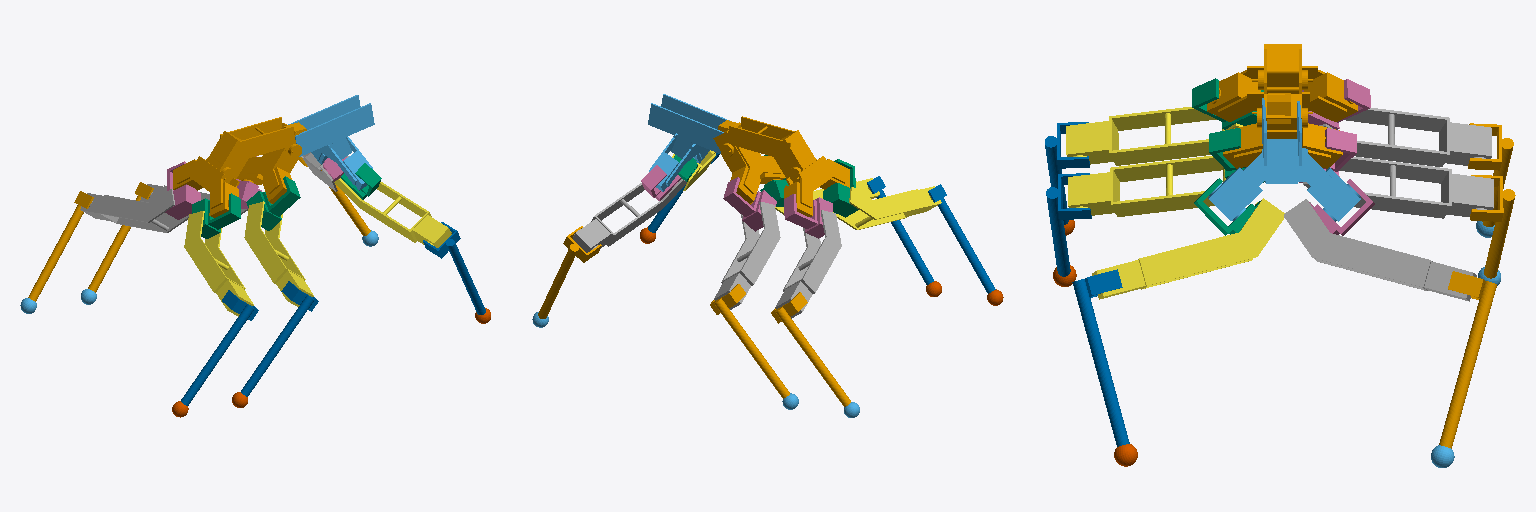
--- Facts derived from the render (not from the file) ---
The picture shows the robot from 3 angles, left to right: view 1: azimuth 30°, elevation 25°; view 2: azimuth 150°, elevation 25°; view 3: azimuth 270°, elevation 25°; orthographic projection.
Robot: dbAlpha_base — 26 links, 25 joints (19 revolute, 6 fixed); root link base_link; default pose: every joint at zero.
Visible links, largest first — view 1: base_link, Thorax, LegAbdomenRearRightLink2, LegAbdomenMidRightLink2, LegAbdomenRearLeftLink2, LegThoraxRightLink2, LegAbdomenRearRightLink3, LegAbdomenMidRightLink3, LegAbdomenRearLeftLink3, LegThoraxRightLink3, LegAbdomenMidRightLink1, LegAbdomenRearRightLink1 (+4 smaller); view 2: base_link, Thorax, dbAlphaL2link2, LegAbdomenRearLeftLink2, LegAbdomenRearRightLink2, LegThoraxLeftLink2, dbAlphaL2link3, LegAbdomenRearLeftLink3, LegAbdomenRearRightLink3, LegThoraxLeftLink3, dbAlphaL2link1, LegAbdomenRearLeftLink1 (+3 smaller); view 3: base_link, Thorax, LegThoraxLeftLink2, LegThoraxRightLink2, LegAbdomenMidRightLink2, LegAbdomenRearRightLink2, dbAlphaL2link2, LegAbdomenRearLeftLink2, LegThoraxLeftLink3, LegThoraxRightLink3, LegAbdomenMidRightLink3, dbAlphaL2link3 (+8 smaller).
Boxes of the visible links, left/top/right/bottom form: base_link: left=173, top=117, right=306, bottom=217; Thorax: left=288, top=95, right=374, bottom=190; LegAbdomenRearRightLink2: left=184, top=211, right=253, bottom=316; LegAbdomenMidRightLink2: left=244, top=201, right=313, bottom=306; LegAbdomenRearLeftLink2: left=80, top=189, right=188, bottom=232; LegThoraxRightLink2: left=334, top=178, right=451, bottom=247; LegAbdomenRearRightLink3: left=181, top=290, right=258, bottom=405; LegAbdomenMidRightLink3: left=241, top=281, right=318, bottom=396; LegAbdomenRearLeftLink3: left=28, top=191, right=93, bottom=301; LegThoraxRightLink3: left=423, top=222, right=485, bottom=314; LegAbdomenMidRightLink1: left=246, top=176, right=300, bottom=230; LegAbdomenRearRightLink1: left=192, top=193, right=240, bottom=238; base_link: left=713, top=116, right=849, bottom=216; Thorax: left=648, top=94, right=729, bottom=191; dbAlphaL2link2: left=714, top=202, right=780, bottom=309; LegAbdomenRearLeftLink2: left=775, top=210, right=841, bottom=318; LegAbdomenRearRightLink2: left=833, top=186, right=941, bottom=229; LegThoraxLeftLink2: left=573, top=179, right=686, bottom=252; dbAlphaL2link3: left=710, top=284, right=789, bottom=398; LegAbdomenRearLeftLink3: left=771, top=292, right=850, bottom=406; LegAbdomenRearRightLink3: left=928, top=184, right=995, bottom=293; LegThoraxLeftLink3: left=538, top=226, right=601, bottom=318; dbAlphaL2link1: left=723, top=177, right=776, bottom=231; LegAbdomenRearLeftLink1: left=784, top=194, right=832, bottom=238; base_link: left=1207, top=44, right=1357, bottom=168; Thorax: left=1208, top=98, right=1360, bottom=221; LegThoraxLeftLink2: left=1284, top=199, right=1476, bottom=301; LegThoraxRightLink2: left=1092, top=198, right=1284, bottom=299; LegAbdomenMidRightLink2: left=1068, top=156, right=1225, bottom=216; LegAbdomenRearRightLink2: left=1066, top=107, right=1242, bottom=165; dbAlphaL2link2: left=1303, top=157, right=1493, bottom=218; LegAbdomenRearLeftLink2: left=1319, top=108, right=1491, bottom=166; LegThoraxLeftLink3: left=1439, top=271, right=1496, bottom=448; LegThoraxRightLink3: left=1072, top=269, right=1129, bottom=446; LegAbdomenMidRightLink3: left=1046, top=173, right=1091, bottom=276; dbAlphaL2link3: left=1470, top=175, right=1515, bottom=278.
Bounding box of the posed robot: 0.601 × 0.4954 × 0.3473 m (x, y, z).
Geometry: primitives only (box / cylinder / sphere), no mesh files.

robot.urdf — dbAlpha_base:
<?xml version="1.0"?>
<robot name="dbAlpha_base">
    <link name="base_link">
        <inertial>
            <origin rpy="-3.141593 3.141593 -3.141593" xyz="-0.006292 -0.000036 0.350842" />
            <inertia izz="0.0032060973793816" iyz="3.4328627291976e-06" ixx="0.0013298139614171" iyy="0.002971610314483" ixz="-0.00041864907431027" ixy="3.2505454879773e-05" />
            <mass value="0.79273247718811" />
        </inertial>
        <collision name="dbAlpha_base">
            <origin xyz="0.082704 -0.003433 0.390925" rpy="-3.128772 3.179409 3.124468" />
            <geometry>
                <box size="0.025000 0.025000 0.025000" />
            </geometry>        
        </collision>
        <visual>
            <origin xyz="0.082704 -0.003433 0.390925" rpy="-3.128772 3.179409 3.124468" />
            <geometry>
                <box size="0.025000 0.025000 0.025000" />
            </geometry>
        </visual>
        <collision name="dbAlpha_base">
            <origin xyz="0.032815 0.045311 0.321212" rpy="2.436458 3.397691 1.956746" />
            <geometry>
                <cylinder length="0.03990364074707" radius="0.0097124055027962" />
            </geometry>          
        </collision>
        <visual>
            <origin xyz="0.032815 0.045311 0.321212" rpy="2.436458 3.397691 1.956746" />
            <geometry>
                <cylinder length="0.03990364074707" radius="0.0097124055027962" />
            </geometry>          
        </visual>
        <collision name="dbAlpha_base">
            <origin xyz="0.064052 0.000006 0.364870" rpy="0.000632 3.762836 -0.000845" />
            <geometry>
                <box size="0.028509 0.034007 0.046500" />
            </geometry>         
        </collision>
        <visual>
            <origin xyz="0.064052 0.000006 0.364870" rpy="0.000632 3.762836 -0.000845" />
            <geometry>
                <box size="0.028509 0.034007 0.046500" />
            </geometry>        
        </visual>
        <collision name="dbAlpha_base">
            <origin xyz="0.036285 0.034788 0.326053" rpy="2.007809 3.762685 -0.000615" />
            <geometry>
                <box size="0.028510 0.034011 0.046512" />
            </geometry>
        </collision>
        <visual>
            <origin xyz="0.036285 0.034788 0.326053" rpy="2.007809 3.762685 -0.000615" />
            <geometry>
                <box size="0.028510 0.034011 0.046512" />
            </geometry>     
        </visual>
        <collision name="dbAlpha_base">
            <origin xyz="0.036267 -0.034789 0.326078" rpy="-2.006940 3.762685 -0.000403" />
            <geometry>
                <box size="0.028510 0.034011 0.046510" />
            </geometry>
        </collision>
        <visual>
            <origin xyz="0.036267 -0.034789 0.326078" rpy="-2.006940 3.762685 -0.000403" />
            <geometry>
                <box size="0.028510 0.034011 0.046510" />
            </geometry>    
        </visual>
        <collision name="dbAlpha_base">
            <origin xyz="-0.053841 0.043629 0.327704" rpy="2.356639 3.762685 -0.000616" />
            <geometry>
                <box size="0.003008 0.024930 0.042689" />
            </geometry>
        </collision>
        <visual>
            <origin xyz="-0.053841 0.043629 0.327704" rpy="2.356639 3.762685 -0.000616" />
            <geometry>
                <box size="0.003008 0.024930 0.042689" />
            </geometry>  
        </visual>
        <collision name="dbAlpha_base">
            <origin xyz="0.050993 -0.027731 0.319586" rpy="-2.006940 3.762685 -0.000403" />
            <geometry>
                <box size="0.003007 0.022007 0.041591" />
            </geometry>
        </collision>
        <visual>
            <origin xyz="0.050993 -0.027731 0.319586" rpy="-2.006940 3.762685 -0.000403" />
            <geometry>
                <box size="0.003007 0.022007 0.041591" />
            </geometry>
        </visual>
        <collision name="dbAlpha_base">
            <origin xyz="0.025482 -0.027801 0.338065" rpy="1.134698 3.762685 -0.000616" />
            <geometry>
                <box size="0.003004 0.022401 0.041592" />
            </geometry>
        </collision>
        <visual>
            <origin xyz="0.025482 -0.027801 0.338065" rpy="1.134698 3.762685 -0.000616" />
            <geometry>
                <box size="0.003004 0.022401 0.041592" />
            </geometry>
        </visual>
        <collision name="dbAlpha_base">
            <origin xyz="0.051007 0.027718 0.319567" rpy="2.007811 3.762684 -0.000616" />
            <geometry>
                <box size="0.003007 0.022007 0.041593" />
            </geometry>
        </collision>
        <visual>
            <origin xyz="0.051007 0.027718 0.319567" rpy="2.007811 3.762684 -0.000616" />
            <geometry>
                <box size="0.003007 0.022007 0.041593" />
            </geometry>
        </visual>
        <collision name="dbAlpha_base">
            <origin xyz="0.025393 0.027731 0.337901" rpy="-1.133829 3.762685 -0.000403" />
            <geometry>
                <box size="0.003005 0.022010 0.041591" />
            </geometry>
        </collision>
        <visual>
            <origin xyz="0.025393 0.027731 0.337901" rpy="-1.133829 3.762685 -0.000403" />
            <geometry>
                <box size="0.003005 0.022010 0.041591" />
            </geometry>
        </visual>
        <collision name="dbAlpha_base">
            <origin xyz="0.066935 0.000916 0.341836" rpy="-3.141431 3.762686 -0.000403" />
            <geometry>
                <box size="0.003010 0.037973 0.057110" />
            </geometry>
        </collision>
        <visual>
            <origin xyz="0.066935 0.000916 0.341836" rpy="-3.141431 3.762686 -0.000403" />
            <geometry>
                <box size="0.003010 0.037973 0.057110" />
            </geometry>
        </visual>
        <collision name="dbAlpha_base">
            <origin xyz="0.041320 -0.000907 0.360171" rpy="-3.140888 3.762687 -0.000616" />
            <geometry>
                <box size="0.003010 0.037974 0.057110" />
            </geometry>
        </collision>
        <visual>
            <origin xyz="0.041320 -0.000907 0.360171" rpy="-3.140888 3.762687 -0.000616" />
            <geometry>
                <box size="0.003010 0.037974 0.057110" />
            </geometry>
        </visual>
        <collision name="dbAlpha_base">
            <origin xyz="0.068179 0.000007 0.370635" rpy="0.000392 3.762840 -0.000437" />
            <geometry>
                <box size="0.028502 0.040002 0.060680" />
            </geometry>
        </collision>
        <visual>
            <origin xyz="0.068179 0.000007 0.370635" rpy="0.000392 3.762840 -0.000437" />
            <geometry>
                <box size="0.028502 0.040002 0.060680" />
            </geometry>
        </visual>
        <collision name="dbAlpha_base">
            <origin xyz="-0.039778 0.000036 0.367715" rpy="-3.141051 3.779570 -0.000270" />
            <geometry>
                <box size="0.036349 0.040023 0.088862" />
            </geometry>
        </collision>
        <visual>
            <origin xyz="-0.039778 0.000036 0.367715" rpy="-3.141051 3.779570 -0.000270" />
            <geometry>
                <box size="0.036349 0.040023 0.088862" />
            </geometry>
        </visual>
        <collision name="dbAlpha_base">
            <origin xyz="0.024593 -0.018472 0.396442" rpy="1.612754 3.141944 1.570536" />
            <geometry>
                <box size="0.003001 0.031555 0.093054" />
            </geometry>
        </collision>
        <visual>
            <origin xyz="0.024593 -0.018472 0.396442" rpy="1.612754 3.141944 1.570536" />
            <geometry>
                <box size="0.003001 0.031555 0.093054" />
            </geometry>
        </visual>
        <collision name="dbAlpha_base">
            <origin xyz="-0.055113 0.000032 0.353015" rpy="-3.141062 3.762855 -0.000674" />
            <geometry>
                <box size="0.028504 0.034004 0.046500" />
            </geometry>
        </collision>
        <visual>
            <origin xyz="-0.055113 0.000032 0.353015" rpy="-3.141062 3.762855 -0.000674" />
            <geometry>
                <box size="0.028504 0.034004 0.046500" />
            </geometry>
        </visual>
        <collision name="dbAlpha_base">
            <origin xyz="0.017492 0.018530 0.396712" rpy="1.528927 3.141244 -1.571050" />
            <geometry>
                <box size="0.003000 0.030393 0.107240" />
            </geometry>
        </collision>
        <visual>
            <origin xyz="0.017492 0.018530 0.396712" rpy="1.528927 3.141244 -1.571050" />
            <geometry>
                <box size="0.003000 0.030393 0.107240" />
            </geometry>
        </visual>
        <collision name="dbAlpha_base">
            <origin xyz="-0.069889 0.051276 0.332337" rpy="-0.784986 3.762686 -0.000402" />
            <geometry>
                <box size="0.028508 0.034007 0.046503" />
            </geometry>
        </collision>
        <visual>
            <origin xyz="-0.069889 0.051276 0.332337" rpy="-0.784986 3.762686 -0.000402" />
            <geometry>
                <box size="0.028508 0.034007 0.046503" />
            </geometry>
        </visual>
        <collision name="dbAlpha_base">
            <origin xyz="-0.079127 0.044205 0.346495" rpy="2.356509 3.762685 -0.000402" />
            <geometry>
                <box size="0.003006 0.023341 0.042689" />
            </geometry>
        </collision>
        <visual>
            <origin xyz="-0.079127 0.044205 0.346495" rpy="2.356509 3.762685 -0.000402" />
            <geometry>
                <box size="0.003006 0.023341 0.042689" />
            </geometry>
        </visual>
        <collision name="dbAlpha_base">
            <origin xyz="-0.069915 -0.051219 0.332374" rpy="-2.355738 3.762685 -0.000616" />
            <geometry>
                <box size="0.028508 0.034008 0.046503" />
            </geometry>
        </collision>
        <visual>
            <origin xyz="-0.069915 -0.051219 0.332374" rpy="-2.355738 3.762685 -0.000616" />
            <geometry>
                <box size="0.028508 0.034008 0.046503" />
            </geometry>
        </visual>
        <collision name="dbAlpha_base">
            <origin xyz="-0.079150 -0.044131 0.346526" rpy="0.785879 3.762685 -0.000616" />
            <geometry>
                <box size="0.003005 0.023341 0.042689" />
            </geometry>
        </collision>
        <visual>
            <origin xyz="-0.079150 -0.044131 0.346526" rpy="0.785879 3.762685 -0.000616" />
            <geometry>
                <box size="0.003005 0.023341 0.042689" />
            </geometry>
        </visual>
        <collision name="dbAlpha_base">
            <origin xyz="-0.071235 0.000095 0.357553" rpy="-1.576121 3.762685 -0.000616" />
            <geometry>
                <box size="0.003010 0.034949 0.074651" />
            </geometry>
        </collision>
        <visual>
            <origin xyz="-0.071235 0.000095 0.357553" rpy="-1.576121 3.762685 -0.000616" />
            <geometry>
                <box size="0.003010 0.034949 0.074651" />
            </geometry>
        </visual>
        <collision name="dbAlpha_base">
            <origin xyz="-0.045582 -0.004067 0.339276" rpy="1.571164 3.762692 -0.000388" />
            <geometry>
                <box size="0.003008 0.034751 0.066469" />
            </geometry>
        </collision>
        <visual>
            <origin xyz="-0.045582 -0.004067 0.339276" rpy="1.571164 3.762692 -0.000388" />
            <geometry>
                <box size="0.003008 0.034751 0.066469" />
            </geometry>
        </visual>
        <collision name="dbAlpha_base">
            <origin xyz="-0.053535 -0.044153 0.328192" rpy="-2.355284 3.762688 -0.000404" />
            <geometry>
                <box size="0.003008 0.023348 0.042686" />
            </geometry>
        </collision>
        <visual>
            <origin xyz="-0.053535 -0.044153 0.328192" rpy="-2.355284 3.762688 -0.000404" />
            <geometry>
                <box size="0.003008 0.023348 0.042686" />
            </geometry>
        </visual>
        <collision name="dbAlpha_base">
            <origin xyz="0.025649 0.000031 0.406751" rpy="-1.571818 1.926986 3.140377" />
            <geometry>
                <cylinder length="0.034001111984253" radius="0.0020486116409302" />
            </geometry>
        </collision>
        <visual>
            <origin xyz="0.025649 0.000031 0.406751" rpy="-1.571818 1.926986 3.140377" />
            <geometry>
                <cylinder length="0.034001111984253" radius="0.0020486116409302" />
            </geometry>
        </visual>
        <collision name="dbAlpha_base">
            <origin xyz="0.026488 0.000024 0.386769" rpy="-1.572104 4.440180 -3.140590" />
            <geometry>
                <cylinder length="0.034000873565674" radius="0.0020487755537033" />
            </geometry>
        </collision>
        <visual>
            <origin xyz="0.026488 0.000024 0.386769" rpy="-1.572104 4.440180 -3.140590" />
            <geometry>
                <cylinder length="0.034000873565674" radius="0.0020487755537033" />
            </geometry>
        </visual>
        <collision name="dbAlpha_base">
            <origin xyz="-0.075723 0.058169 0.324210" rpy="2.549536 3.947053 1.793942" />
            <geometry>
                <cylinder length="0.042402267456055" radius="0.0097112059593201" />
            </geometry>
        </collision>
        <visual>
            <origin xyz="-0.075723 0.058169 0.324210" rpy="2.549536 3.947053 1.793942" />
            <geometry>
                <cylinder length="0.042402267456055" radius="0.0097112059593201" />
            </geometry>
        </visual>
        <collision name="dbAlpha_base">
            <origin xyz="-0.023468 0.000036 0.384671" rpy="-1.571250 3.811981 -3.141565" />
            <geometry>
                <cylinder length="0.034000158309937" radius="0.0020487885922194" />
            </geometry>
        </collision>
        <visual>
            <origin xyz="-0.023468 0.000036 0.384671" rpy="-1.571250 3.811981 -3.141565" />
            <geometry>
                <cylinder length="0.034000158309937" radius="0.0020487885922194" />
            </geometry>
        </visual>
        <collision name="dbAlpha_base">
            <origin xyz="-0.075712 -0.058127 0.324206" rpy="0.954367 3.044734 -2.682950" />
            <geometry>
                <cylinder length="0.042402625083923" radius="0.0097114741802216" />
            </geometry>
        </collision>
        <visual>
            <origin xyz="-0.075712 -0.058127 0.324206" rpy="0.954367 3.044734 -2.682950" />
            <geometry>
                <cylinder length="0.042402625083923" radius="0.0097114741802216" />
            </geometry>
        </visual>
        <collision name="dbAlpha_base">
            <origin xyz="0.032108 -0.044761 0.320355" rpy="2.467905 3.480263 0.500674" />
            <geometry>
                <cylinder length="0.042401909828186" radius="0.0097118318080902" />
            </geometry>
        </collision>
        <visual>
            <origin xyz="0.032108 -0.044761 0.320355" rpy="2.467905 3.480263 0.500674" />
            <geometry>
                <cylinder length="0.042401909828186" radius="0.0097118318080902" />
            </geometry>
        </visual>
        <collision name="dbAlpha_base">
            <origin xyz="0.071036 -0.022742 0.374611" rpy="1.570431 3.357126 3.141414" />
            <geometry>
                <cylinder length="0.007500171661377" radius="0.01048712618649" />
            </geometry>
        </collision>
        <visual>
            <origin xyz="0.071036 -0.022742 0.374611" rpy="1.570431 3.357126 3.141414" />
            <geometry>
                <cylinder length="0.007500171661377" radius="0.01048712618649" />
            </geometry>
        </visual>
        <collision name="dbAlpha_base">
            <origin xyz="0.063233 -0.029240 0.376433" rpy="-1.571660 1.998854 3.140549" />
            <geometry>
                <cylinder length="0.0054996013641357" radius="0.0014872252941132" />
            </geometry>
        </collision>
        <visual>
            <origin xyz="0.063233 -0.029240 0.376433" rpy="-1.571660 1.998854 3.140549" />
            <geometry>
                <cylinder length="0.0054996013641357" radius="0.0014872252941132" />
            </geometry>
        </visual>
        <collision name="dbAlpha_base">
            <origin xyz="0.063248 0.029261 0.376412" rpy="-1.571184 3.569612 3.141499" />
            <geometry>
                <cylinder length="0.0055007934570312" radius="0.0014872066676617" />
            </geometry>
        </collision>
        <visual>
            <origin xyz="0.063248 0.029261 0.376412" rpy="-1.571184 3.569612 3.141499" />
            <geometry>
                <cylinder length="0.0055007934570312" radius="0.0014872066676617" />
            </geometry>
        </visual>
        <collision name="dbAlpha_base">
            <origin xyz="0.071045 0.022758 0.374614" rpy="-1.571535 3.357200 -3.140055" />
            <geometry>
                <cylinder length="0.0075352191925049" radius="0.010494554415345" />
            </geometry>
        </collision>
        <visual>
            <origin xyz="0.071045 0.022758 0.374614" rpy="-1.571535 3.357200 -3.140055" />
            <geometry>
                <cylinder length="0.0075352191925049" radius="0.010494554415345" />
            </geometry>
        </visual>
        <collision name="dbAlpha_base">
            <origin xyz="-0.048123 0.022784 0.362765" rpy="-1.570439 3.309800 -0.000317" />
            <geometry>
                <cylinder length="0.0075004100799561" radius="0.010499980300665" />
            </geometry>
        </collision>
        <visual>
            <origin xyz="-0.048123 0.022784 0.362765" rpy="-1.570439 3.309800 -0.000317" />
            <geometry>
                <cylinder length="0.0075004100799561" radius="0.010499980300665" />
            </geometry>
        </visual>
        <collision name="dbAlpha_base">
            <origin xyz="-0.055269 -0.029215 0.359160" rpy="-1.566211 4.635024 -0.004827" />
            <geometry>
                <cylinder length="0.0055000782012939" radius="0.0014871954917908" />
            </geometry>
        </collision>
        <visual>
            <origin xyz="-0.055269 -0.029215 0.359160" rpy="-1.566211 4.635024 -0.004827" />
            <geometry>
                <cylinder length="0.0055000782012939" radius="0.0014871954917908" />
            </geometry>
        </visual>
        <collision name="dbAlpha_base">
            <origin xyz="-0.048135 -0.022716 0.362782" rpy="1.571462 2.131499 0.000308" />
            <geometry>
                <cylinder length="0.0075006484985352" radius="0.010499926283956" />
            </geometry>
        </collision>
        <visual>
            <origin xyz="-0.048135 -0.022716 0.362782" rpy="1.571462 2.131499 0.000308" />
            <geometry>
                <cylinder length="0.0075006484985352" radius="0.010499926283956" />
            </geometry>
        </visual>
        <collision name="dbAlpha_base">
            <origin xyz="-0.055254 0.029285 0.359139" rpy="-1.570342 3.849252 -0.000567" />
            <geometry>
                <cylinder length="0.005500316619873" radius="0.0014872625470161" />
            </geometry>
        </collision> 
        <visual>
            <origin xyz="-0.055254 0.029285 0.359139" rpy="-1.570342 3.849252 -0.000567" />
            <geometry>
                <cylinder length="0.005500316619873" radius="0.0014872625470161" />
            </geometry>
        </visual>
    </link>
    <!-- End Abdomen-->
    <joint name="dbAlphaTA" type="revolute">
        <axis xyz="0 0 1" />
        <limit effort="4.0999999046326" upper="0.34906587004662" lower="-0.43633231520653" velocity="1.0471975803375" />
        <parent link="base_link" />
        <child link="Thorax" />
        <origin xyz="0.084022 -0.001600 0.387782" rpy="1.583457 3.283007 0.015086" />
    </joint>
    <link name="Thorax">
        <inertial>
            <origin rpy="1.583333 3.158462 0.141214" xyz="-0.079260 0.029651 -0.001808" />
            <inertia izz="0.00081537963885578" iyz="1.8068792287944e-05" ixx="0.00093384334259596" iyy="0.0004049212992919" ixz="7.8571802847512e-05" ixy="5.102323436859e-06" />
            <mass value="0.39300000667572" />
        </inertial>
        <collision name="Thorax">
            <origin xyz="-0.070678 0.016180 0.000057" rpy="1.570799 3.145506 0.546856" />
            <geometry>
                <box size="0.028633 0.034111 0.046500" />
            </geometry>
        </collision>
        <visual>
            <origin xyz="-0.070678 0.016180 0.000057" rpy="1.570799 3.145506 0.546856" />
            <geometry>
                <box size="0.028633 0.034111 0.046500" />
            </geometry>
        </visual>
        <collision name="Thorax">
            <origin xyz="-0.094104 0.054670 0.055831" rpy="-3.006078 2.365219 2.309748" />
            <geometry>
                <cylinder length="0.042402744293213" radius="0.0097193717956543" />
            </geometry>
        </collision>
        <visual>
            <origin xyz="-0.094104 0.054670 0.055831" rpy="-3.006078 2.365219 2.309748" />
            <geometry>
                <cylinder length="0.042402744293213" radius="0.0097193717956543" />
            </geometry>
        </visual>
        <collision name="Thorax">
            <origin xyz="-0.088905 0.046118 0.048932" rpy="0.785270 3.141375 0.547097" />
            <geometry>
                <box size="0.028516 0.034007 0.046514" />
            </geometry>
        </collision>
        <visual>
            <origin xyz="-0.088905 0.046118 0.048932" rpy="0.785270 3.141375 0.547097" />
            <geometry>
                <box size="0.028516 0.034007 0.046514" />
            </geometry>
        </visual>
        <collision name="Thorax">
            <origin xyz="-0.064426 0.005886 0.000057" rpy="-3.141566 3.141585 1.844424" />
            <geometry>
                <cylinder length="0.038001537322998" radius="0.009715810418129" />
            </geometry>
        </collision>
        <visual>
            <origin xyz="-0.064426 0.005886 0.000057" rpy="-3.141566 3.141585 1.844424" />
            <geometry>
                <cylinder length="0.038001537322998" radius="0.009715810418129" />
            </geometry>
        </visual>
        <collision name="Thorax">
            <origin xyz="-0.094142 0.054658 -0.061727" rpy="-2.510504 3.645483 1.130377" />
            <geometry>
                <cylinder length="0.042403340339661" radius="0.0097194761037827" />
            </geometry>
        </collision>
        <visual>
            <origin xyz="-0.094142 0.054658 -0.061727" rpy="-2.510504 3.645483 1.130377" />
            <geometry>
                <cylinder length="0.042403340339661" radius="0.0097194761037827" />
            </geometry>
        </visual>
        <collision name="Thorax">
            <origin xyz="-0.056791 -0.011001 -0.018442" rpy="1.933161 1.570807 2.240606" />
            <geometry>
                <box size="0.003001 0.036913 0.136036" />
            </geometry>
        </collision>
        <visual>
            <origin xyz="-0.056791 -0.011001 -0.018442" rpy="1.933161 1.570807 2.240606" />
            <geometry>
                <box size="0.003001 0.036913 0.136036" />
            </geometry>
        </visual>
        <collision name="Thorax">
            <origin xyz="-0.095438 0.026562 0.035626" rpy="0.785269 3.141591 0.546860" />
            <geometry>
                <box size="0.003001 0.022008 0.063639" />
            </geometry>
        </collision>
        <visual>
            <origin xyz="-0.095438 0.026562 0.035626" rpy="0.785269 3.141591 0.546860" />
            <geometry>
                <box size="0.003001 0.022008 0.063639" />
            </geometry>
        </visual>
        <collision name="Thorax">
            <origin xyz="-0.068532 0.042942 0.035626" rpy="0.785269 3.141610 0.546877" />
            <geometry>
                <box size="0.003001 0.022008 0.063639" />
            </geometry>
        </collision>
        <visual>
            <origin xyz="-0.068532 0.042942 0.035626" rpy="0.785269 3.141610 0.546877" />
            <geometry>
                <box size="0.003001 0.022008 0.063639" />
            </geometry>
        </visual>
        <collision name="Thorax">
            <origin xyz="-0.059305 0.027786 -0.002943" rpy="-3.141587 3.141591 0.546857" />
            <geometry>
                <box size="0.003000 0.034000 0.044538" />
            </geometry>
        </collision>
        <visual>
            <origin xyz="-0.059305 0.027786 -0.002943" rpy="-3.141587 3.141591 0.546857" />
            <geometry>
                <box size="0.003000 0.034000 0.044538" />
            </geometry>
        </visual>
        <collision name="Thorax">
            <origin xyz="-0.086211 0.011406 -0.002943" rpy="-3.141587 3.141591 0.546857" />
            <geometry>
                <box size="0.003001 0.034000 0.047692" />
            </geometry>
        </collision>
        <visual>
            <origin xyz="-0.086211 0.011406 -0.002943" rpy="-3.141587 3.141591 0.546857" />
            <geometry>
                <box size="0.003001 0.034000 0.047692" />
            </geometry>
        </visual>
        <collision name="Thorax">
            <origin xyz="-0.068532 0.042942 -0.041511" rpy="-0.785260 3.141594 0.546858" />
            <geometry>
                <box size="0.003000 0.022008 0.063639" />
            </geometry>
        </collision>
        <visual>
            <origin xyz="-0.068532 0.042942 -0.041511" rpy="-0.785260 3.141594 0.546858" />
            <geometry>
                <box size="0.003000 0.022008 0.063639" />
            </geometry>
        </visual>
        <collision name="Thorax">
            <origin xyz="-0.095438 0.026561 -0.041511" rpy="-0.785260 3.141595 0.546858" />
            <geometry>
                <box size="0.003000 0.022008 0.063639" />
            </geometry>
        </collision>
        <visual>
            <origin xyz="-0.095438 0.026561 -0.041511" rpy="-0.785260 3.141595 0.546858" />
            <geometry>
                <box size="0.003000 0.022008 0.063639" />
            </geometry>
        </visual>
        <collision name="Thorax">
            <origin xyz="-0.056766 -0.011072 0.018558" rpy="0.859653 4.712381 -0.552404" />
            <geometry>
                <box size="0.003001 0.036762 0.136036" />
            </geometry>
        </collision>
        <visual>
            <origin xyz="-0.056766 -0.011072 0.018558" rpy="0.859653 4.712381 -0.552404" />
            <geometry>
                <box size="0.003001 0.036762 0.136036" />
            </geometry>
        </visual>
        <collision name="Thorax">
            <origin xyz="-0.088905 0.046118 -0.054818" rpy="-0.785260 3.141811 0.547095" />
            <geometry>
                <box size="0.028515 0.034006 0.046514" />
            </geometry>
        </collision> 
        <visual>
            <origin xyz="-0.088905 0.046118 -0.054818" rpy="-0.785260 3.141811 0.547095" />
            <geometry>
                <box size="0.028515 0.034006 0.046514" />
            </geometry>
        </visual>
    </link>
    <!-- End Thorax-->

    <joint name="dbAlphaBC3" type="revolute">
        <axis xyz="0 0 1" />
        <limit effort="4.0999999046326" upper="0.34906587004662" lower="-0.69813171029091" velocity="1.0471975803375" />
        <parent link="Thorax" />
        <child link="LegThoraxRightLink1" />
        <origin xyz="-0.093699 0.053942 0.056721" rpy="2.878107 2.392392 1.740291" />
    </joint>
    <link name="LegThoraxRightLink1">
        <inertial>
            <origin rpy="0.000224 3.141727 2.018782" xyz="0.004362 0.002122 0.003495" />
            <inertia izz="2.7032945074644e-05" iyz="3.8403333722007e-06" ixx="5.2499231550432e-05" iyy="4.4062315572048e-05" ixz="-5.4987206415571e-10" ixy="3.052183779589e-10" />
            <mass value="0.10400000214577" />
        </inertial>
        <collision name="Leg_Thorax_Right_Link1">
            <origin xyz="-0.006349 -0.003017 0.022479" rpy="0.623842 4.712116 -0.176375" />
            <geometry>
                <box size="0.005001 0.022007 0.034966" />
            </geometry>
        </collision>
        <visual>
            <origin xyz="-0.006349 -0.003017 0.022479" rpy="0.623842 4.712116 -0.176375" />
            <geometry>
                <box size="0.005001 0.022007 0.034966" />
            </geometry>
        </visual>
        <collision name="Leg_Thorax_Right_Link1">
            <origin xyz="0.003600 0.001752 -0.037269" rpy="0.652579 4.712126 -0.204610" />
            <geometry>
                <box size="0.028501 0.034012 0.046509" />
            </geometry>
        </collision>
        <visual>
            <origin xyz="0.003600 0.001752 -0.037269" rpy="0.652579 4.712126 -0.204610" />
            <geometry>
                <box size="0.028501 0.034012 0.046509" />
            </geometry>
        </visual>
        <collision name="Leg_Thorax_Right_Link1">
            <origin xyz="0.014414 0.006945 -0.037269" rpy="-1.569697 4.643776 -2.694967" />
            <geometry>
                <cylinder length="0.038004726171494" radius="0.0097468197345734" />
            </geometry>
        </collision>
        <visual>
            <origin xyz="0.014414 0.006945 -0.037269" rpy="-1.569697 4.643776 -2.694967" />
            <geometry>
                <cylinder length="0.038004726171494" radius="0.0097468197345734" />
            </geometry>
        </visual>
        <collision name="Leg_Thorax_Right_Link1">
            <origin xyz="-0.003839 -0.001819 -0.020521" rpy="0.658512 4.712115 -0.211045" />
            <geometry>
                <box size="0.005001 0.022010 0.040499" />
            </geometry>
        </collision>
        <visual>
            <origin xyz="-0.003839 -0.001819 -0.020521" rpy="0.658512 4.712115 -0.211045" />
            <geometry>
                <box size="0.005001 0.022010 0.040499" />
            </geometry>
        </visual>
        <collision name="Leg_Thorax_Right_Link1">
            <origin xyz="-0.019847 -0.009502 0.000978" rpy="-3.141498 3.141808 -2.693865" />
            <geometry>
                <box size="0.005000 0.022010 0.038000" />
            </geometry>
        </collision>
        <visual>
            <origin xyz="-0.019847 -0.009502 0.000978" rpy="-3.141498 3.141808 -2.693865" />
            <geometry>
                <box size="0.005000 0.022010 0.038000" />
            </geometry>
        </visual>
    </link>


    <joint name="dbAlphaCF3" type="revolute">
        <axis xyz="0 0 1" />
        <limit effort="4.0999999046326" upper="0.52359873056412" lower="-0.26179945468903" velocity="1.0471975803375" />
        <parent link="LegThoraxRightLink1" />
        <child link="LegThoraxRightLink2" />
        <origin xyz="0.014475 0.006931 -0.037300" rpy="1.570718 2.861140 0.447701" />
    </joint>
    <link name="LegThoraxRightLink2">
        <inertial>
            <origin rpy="1.506905 4.701962 -2.165313" xyz="0.106023 -0.076525 -0.000165" />
            <inertia izz="5.760234077472e-05" iyz="-5.2814768473165e-05" ixx="0.00063820550278356" iyy="0.00065748805962023" ixz="-8.7301147729515e-07" ixy="1.4787884216665e-07" />
            <mass value="0.18000000715256" />
        </inertial>
        <collision name="Leg_Thorax_Right_Link2">
            <origin xyz="0.067126 -0.046767 -0.000165" rpy="-3.141577 3.142587 0.710300" />
            <geometry>
                <cylinder length="0.038001090288162" radius="0.0032186880707741" />
            </geometry>
        </collision>
        <visual>
            <origin xyz="0.067126 -0.046767 -0.000165" rpy="-3.141577 3.142587 0.710300" />
            <geometry>
                <cylinder length="0.038001090288162" radius="0.0032186880707741" />
            </geometry>
        </visual>
        <collision name="Leg_Thorax_Right_Link2">
            <origin xyz="0.014213 0.000627 0.020329" rpy="-1.038855 4.711420 -2.208036" />
            <geometry>
                <box size="0.003000 0.030394 0.054750" />
            </geometry>
        </collision>
        <visual>
            <origin xyz="0.014213 0.000627 0.020329" rpy="-1.038855 4.711420 -2.208036" />
            <geometry>
                <box size="0.003000 0.030394 0.054750" />
            </geometry>
        </visual>
        <collision name="Leg_Thorax_Right_Link2">
            <origin xyz="0.133136 -0.102288 -0.000160" rpy="-1.570796 3.142433 0.767021" />
            <geometry>
                <box size="0.028507 0.034011 0.046508" />
            </geometry>
        </collision>
        <visual>
            <origin xyz="0.133136 -0.102288 -0.000160" rpy="-1.570796 3.142433 0.767021" />
            <geometry>
                <box size="0.028507 0.034011 0.046508" />
            </geometry>
        </visual>
        <collision name="Leg_Thorax_Right_Link2">
            <origin xyz="0.014189 0.000594 -0.020672" rpy="-1.032949 4.711417 -2.213943" />
            <geometry>
                <box size="0.003000 0.030394 0.054750" />
            </geometry>
        </collision>
        <visual>
            <origin xyz="0.014189 0.000594 -0.020672" rpy="-1.032949 4.711417 -2.213943" />
            <geometry>
                <box size="0.003000 0.030394 0.054750" />
            </geometry>
        </visual>
        <collision name="Leg_Thorax_Right_Link2">
            <origin xyz="0.074599 -0.041580 -0.020674" rpy="1.404636 4.711413 -2.208500" />
            <geometry>
                <box size="0.003000 0.030003 0.122174" />
            </geometry>
        </collision>
        <visual>
            <origin xyz="0.074599 -0.041580 -0.020674" rpy="1.404636 4.711413 -2.208500" />
            <geometry>
                <box size="0.003000 0.030003 0.122174" />
            </geometry>
        </visual>
        <collision name="Leg_Thorax_Right_Link2">
            <origin xyz="0.074623 -0.041547 0.020326" rpy="1.404420 4.711414 -2.208284" />
            <geometry>
                <box size="0.003000 0.030003 0.122174" />
            </geometry>
        </collision>
        <visual>
            <origin xyz="0.074623 -0.041547 0.020326" rpy="1.404420 4.711414 -2.208284" />
            <geometry>
                <box size="0.003000 0.030003 0.122174" />
            </geometry>
        </visual>
        <collision name="Leg_Thorax_Right_Link2">
            <origin xyz="0.116031 -0.084540 -0.000164" rpy="3.140554 3.141599 2.337616" />
            <geometry>
                <box size="0.002811 0.030003 0.044002" />
            </geometry>
        </collision>
        <visual>
            <origin xyz="0.116031 -0.084540 -0.000164" rpy="3.140554 3.141599 2.337616" />
            <geometry>
                <box size="0.002811 0.030003 0.044002" />
            </geometry>
        </visual>
        <collision name="Leg_Thorax_Right_Link2">
            <origin xyz="0.141496 -0.110961 -0.000158" rpy="0.000250 3.140591 -2.261246" />
            <geometry>
                <cylinder length="0.038006067276001" radius="0.0096724182367325" />
            </geometry>
        </collision>
        <visual>
            <origin xyz="0.141496 -0.110961 -0.000158" rpy="0.000250 3.140591 -2.261246" />
            <geometry>
                <cylinder length="0.038006067276001" radius="0.0096724182367325" />
            </geometry>
        </visual>
    </link>

    <!-- TODO ###################################################################################################################################################-->
    <joint name="dbAlphaFT3" type="revolute">
        <axis xyz="0 0 1" />
        <limit effort="4.0999999046326" upper="1.0471975803375" lower="-1.0471975803375" velocity="1.0471975803375" />
        <parent link="LegThoraxRightLink2" />
        <child link="LegThoraxRightLink3" />
        <origin xyz="0.141892 -0.110781 -0.000037" rpy="0.000445 3.141419 -3.088028" />
    </joint>
    <link name="LegThoraxRightLink3">
        <inertial>
            <origin rpy="-3.118479 1.572086 2.451315" xyz="0.065815 -0.022592 0.000210" />
            <inertia izz="5.1129607481889e-06" iyz="-7.3669146842038e-06" ixx="0.00011587605253547" iyy="0.00011576391463284" ixz="7.3196280500875e-09" ixy="3.5678509000922e-10" />
            <mass value="0.034832794219255" />
        </inertial>
        <collision name="Leg_Thorax_Right_Link3">
            <origin xyz="0.004002 0.004981 -0.020378" rpy="1.590681 1.572087 2.448134" />
            <geometry>
                <box size="0.003000 0.020001 0.033500" />
            </geometry>
        </collision>
        <visual>
            <origin xyz="0.004002 0.004981 -0.020378" rpy="1.590681 1.572087 2.448134" />
            <geometry>
                <box size="0.003000 0.020001 0.033500" />
            </geometry>
        </visual>
        <collision name="Leg_Thorax_Right_Link3">
            <origin xyz="0.003961 0.005015 0.020622" rpy="1.592754 1.572068 2.450208" />
            <geometry>
                <box size="0.003000 0.020001 0.033500" />
            </geometry>
        </collision>
        <visual>
            <origin xyz="0.003961 0.005015 0.020622" rpy="1.592754 1.572068 2.450208" />
            <geometry>
                <box size="0.003000 0.020001 0.033500" />
            </geometry>
        </visual>
        <collision name="Leg_Thorax_Right_Link3">
            <origin xyz="0.080076 -0.030625 0.000232" rpy="1.572321 2.670293 0.858245" />
            <geometry>
                <cylinder length="0.18170228600502" radius="0.0069939307868481" />
            </geometry>
        </collision>
        <visual>
            <origin xyz="0.080076 -0.030625 0.000232" rpy="1.572321 2.670293 0.858245" />
            <geometry>
                <cylinder length="0.18170228600502" radius="0.0069939307868481" />
            </geometry>
        </visual>
        <collision name="Leg_Thorax_Right_Link3">
            <origin xyz="0.014054 0.016636 0.000122" rpy="0.001275 3.141563 0.857403" />
            <geometry>
                <box size="0.003284 0.020000 0.044000" />
            </geometry>
        </collision>
        <visual>
            <origin xyz="0.014054 0.016636 0.000122" rpy="0.001275 3.141563 0.857403" />
            <geometry>
                <box size="0.003284 0.020000 0.044000" />
            </geometry>
        </visual>
    </link>
    <joint name="Forcesensor3" type="fixed">
        <axis xyz="0 0 1" />
        <parent link="LegThoraxRightLink3" />
        <child link="Tips3" />
        <origin xyz="0.155579 -0.095546 0.000016" rpy="-3.118064 1.572087 2.451721" />
    </joint>
    <link name="Tips3">
        <inertial>
            <origin rpy="1.542054 1.570800 0.737640" xyz="-0.000346 -0.000337 -0.000224" />
            <inertia izz="5.1028341083554e-07" iyz="0.0" ixx="5.1028341083554e-07" iyy="5.1028341083554e-07" ixz="0.0" ixy="0.0" />
            <mass value="0.0081712091341615" />
        </inertial>
        <collision name="Tips3">
            <origin xyz="-0.000346 -0.000337 -0.000224" rpy="1.542054 1.570800 0.737640" />
            <geometry>
                <sphere radius="0.012494893744588" />
            </geometry>
        </collision>
        <visual>
            <origin xyz="-0.000346 -0.000337 -0.000224" rpy="1.542054 1.570800 0.737640" />
            <geometry>
                <sphere radius="0.012494893744588" />
            </geometry>
        </visual>
    </link>
    <joint name="dbAlphaBC0" type="revolute">
        <axis xyz="0 0 1" />
        <limit effort="4.0999999046326" upper="0.34906587004662" lower="-0.69813171029091" velocity="1.0471975803375" />
        <parent link="Thorax" />
        <child link="LegThoraxLeftLink1" />
        <origin xyz="-0.093339 0.053302 -0.063329" rpy="-2.878079 3.890788 1.740249" />
    </joint>
    <link name="LegThoraxLeftLink1">
        <inertial>
            <origin rpy="-0.000222 3.141454 2.018468" xyz="0.004351 0.002143 0.031058" />
            <inertia izz="2.7032945074644e-05" iyz="3.8403333722007e-06" ixx="5.2499231550432e-05" iyy="4.4062315572048e-05" ixz="-5.4987206415571e-10" ixy="3.052183779589e-10" />
            <mass value="0.10400000214577" />
        </inertial>
        <collision name="Leg_Thorax_Left_Link1">
            <origin xyz="0.014397 0.006964 0.038293" rpy="1.571145 4.263299 -2.694196" />
            <geometry>
                <cylinder length="0.03800094127655" radius="0.0097468495368958" />
            </geometry>
        </collision>
        <visual>
            <origin xyz="0.014397 0.006964 0.038293" rpy="1.571145 4.263299 -2.694196" />
            <geometry>
                <cylinder length="0.03800094127655" radius="0.0097468495368958" />
            </geometry>
        </visual>
        <collision name="Leg_Thorax_Left_Link1">
            <origin xyz="0.003582 0.001770 0.038298" rpy="-0.681279 1.571061 -0.233626" />
            <geometry>
                <box size="0.028500 0.034005 0.046504" />
            </geometry>
        </collision>
        <visual>
            <origin xyz="0.003582 0.001770 0.038298" rpy="-0.681279 1.571061 -0.233626" />
            <geometry>
                <box size="0.028500 0.034005 0.046504" />
            </geometry>
        </visual>
        <collision name="Leg_Thorax_Left_Link1">
            <origin xyz="-0.006367 -0.002999 -0.021450" rpy="-0.667682 1.571060 -0.220185" />
            <geometry>
                <box size="0.005000 0.022007 0.034967" />
            </geometry>
        </collision>
        <visual>
            <origin xyz="-0.006367 -0.002999 -0.021450" rpy="-0.667682 1.571060 -0.220185" />
            <geometry>
                <box size="0.005000 0.022007 0.034967" />
            </geometry>
        </visual>
        <collision name="Leg_Thorax_Left_Link1">
            <origin xyz="-0.003860 -0.001801 0.021550" rpy="-0.684465 1.571066 -0.236466" />
            <geometry>
                <box size="0.005000 0.022008 0.040504" />
            </geometry>
        </collision>
        <visual>
            <origin xyz="-0.003860 -0.001801 0.021550" rpy="-0.684465 1.571066 -0.236466" />
            <geometry>
                <box size="0.005000 0.022008 0.040504" />
            </geometry>
        </visual>
        <collision name="Leg_Thorax_Left_Link1">
            <origin xyz="-0.019865 -0.009485 0.000050" rpy="3.141499 3.141389 -2.693836" />
            <geometry>
                <box size="0.005001 0.022013 0.048000" />
            </geometry>
        </collision>
        <visual>
            <origin xyz="-0.019865 -0.009485 0.000050" rpy="3.141499 3.141389 -2.693836" />
            <geometry>
                <box size="0.005001 0.022013 0.048000" />
            </geometry>
        </visual>
    </link>
    <joint name="dbAlphaCF0" type="revolute">
        <axis xyz="0 0 1" />
        <limit effort="4.0999999046326" upper="0.52359873056412" lower="-0.26179945468903" velocity="1.0471975803375" />
        <parent link="LegThoraxLeftLink1" />
        <child link="LegThoraxLeftLink2" />
        <origin xyz="0.014398 0.006922 0.038244" rpy="-1.570544 1.937731 0.447497" />
    </joint>
    <link name="LegThoraxLeftLink2">
        <inertial>
            <origin rpy="-1.478051 1.580825 -0.652155" xyz="0.025052 0.034087 0.000092" />
            <inertia izz="5.760234077472e-05" iyz="-5.2814768473165e-05" ixx="0.00063820550278356" iyy="0.00065748805962023" ixz="-8.7301147729515e-07" ixy="1.4787884216665e-07" />
            <mass value="0.18000000715256" />
        </inertial>
        <collision name="Leg_Thorax_Left_Link2">
            <origin xyz="0.047722 0.071104 -0.020473" rpy="1.622074 1.571354 2.302527" />
            <geometry>
                <box size="0.003000 0.030002 0.122175" />
            </geometry>
        </collision>
        <visual>
            <origin xyz="0.047722 0.071104 -0.020473" rpy="1.622074 1.571354 2.302527" />
            <geometry>
                <box size="0.003000 0.030002 0.122175" />
            </geometry>
        </visual>
        <collision name="Leg_Thorax_Left_Link2">
            <origin xyz="0.122630 0.131695 0.000029" rpy="0.000143 3.142150 2.471284" />
            <geometry>
                <cylinder length="0.038004100322723" radius="0.0097183883190155" />
            </geometry>
        </collision>
        <visual>
            <origin xyz="0.122630 0.131695 0.000029" rpy="0.000143 3.142150 2.471284" />
            <geometry>
                <cylinder length="0.038004100322723" radius="0.0097183883190155" />
            </geometry>
        </visual>
        <collision name="Leg_Thorax_Left_Link2">
            <origin xyz="0.052253 0.063207 0.000032" rpy="-3.141430 3.142135 2.030932" />
            <geometry>
                <cylinder length="0.038000166416168" radius="0.0032320618629456" />
            </geometry>
        </collision>
        <visual>
            <origin xyz="0.052253 0.063207 0.000032" rpy="-3.141430 3.142135 2.030932" />
            <geometry>
                <cylinder length="0.038000166416168" radius="0.0032320618629456" />
            </geometry>
        </visual>
        <collision name="Leg_Thorax_Left_Link2">
            <origin xyz="0.000477 0.014578 0.020533" rpy="0.919027 1.571351 2.297533" />
            <geometry>
                <box size="0.003000 0.030398 0.054740" />
            </geometry>
        </collision>
        <visual>
            <origin xyz="0.000477 0.014578 0.020533" rpy="0.919027 1.571351 2.297533" />
            <geometry>
                <box size="0.003000 0.030398 0.054740" />
            </geometry>
        </visual>
        <collision name="Leg_Thorax_Left_Link2">
            <origin xyz="0.000492 0.014561 -0.020467" rpy="0.916878 1.571353 2.295527" />
            <geometry>
                <box size="0.003001 0.030394 0.054743" />
            </geometry>
        </collision>
        <visual>
            <origin xyz="0.000492 0.014561 -0.020467" rpy="0.916878 1.571353 2.295527" />
            <geometry>
                <box size="0.003001 0.030394 0.054743" />
            </geometry>
        </visual>
        <collision name="Leg_Thorax_Left_Link2">
            <origin xyz="0.094108 0.108665 0.000028" rpy="3.141012 3.141646 -2.461181" />
            <geometry>
                <box size="0.002803 0.030001 0.044000" />
            </geometry>
        </collision>
        <visual>
            <origin xyz="0.094108 0.108665 0.000028" rpy="3.141012 3.141646 -2.461181" />
            <geometry>
                <box size="0.002803 0.030001 0.044000" />
            </geometry>
        </visual>
        <collision name="Leg_Thorax_Left_Link2">
            <origin xyz="0.113268 0.124174 0.000029" rpy="1.570597 3.141936 2.251384" />
            <geometry>
                <box size="0.028513 0.034017 0.046511" />
            </geometry>
        </collision>
        <visual>
            <origin xyz="0.113268 0.124174 0.000029" rpy="1.570597 3.141936 2.251384" />
            <geometry>
                <box size="0.028513 0.034017 0.046511" />
            </geometry>
        </visual>
        <collision name="Leg_Thorax_Left_Link2">
            <origin xyz="0.047707 0.071121 0.020527" rpy="1.621399 1.571348 2.301853" />
            <geometry>
                <box size="0.003000 0.030002 0.122174" />
            </geometry>
        </collision>
        <visual>
            <origin xyz="0.047707 0.071121 0.020527" rpy="1.621399 1.571348 2.301853" />
            <geometry>
                <box size="0.003000 0.030002 0.122174" />
            </geometry>
        </visual>
    </link>
    <joint name="dbAlphaFT0" type="revolute">
        <axis xyz="0 0 1" />
        <limit effort="4.0999999046326" upper="1.0471975803375" lower="-1.0471975803375" velocity="1.0471975803375" />
        <parent link="LegThoraxLeftLink2" />
        <child link="LegThoraxLeftLink3" />
        <origin xyz="0.122670 0.131737 -0.000009" rpy="-0.000564 3.141729 -2.241132" />
    </joint>
    <link name="LegThoraxLeftLink3">
        <inertial>
            <origin rpy="1.312937 4.712166 0.477868" xyz="0.039823 -0.057573 -0.000048" />
            <inertia izz="5.1100411974814e-06" iyz="7.3390552426128e-06" ixx="0.00011588039732362" iyy="0.00011577173951848" ixz="2.4661095093183e-08" ixy="-1.451391113122e-09" />
            <mass value="0.034834433346987" />
        </inertial>
        <collision name="Leg_Thorax_Left_Link3">
            <origin xyz="0.046500 -0.072518 -0.000052" rpy="-1.571424 2.041782 0.219333" />
            <geometry>
                <cylinder length="0.18170356750488" radius="0.0069939792156219" />
            </geometry>
        </collision>
        <visual>
            <origin xyz="0.046500 -0.072518 -0.000052" rpy="-1.571424 2.041782 0.219333" />
            <geometry>
                <cylinder length="0.18170356750488" radius="0.0069939792156219" />
            </geometry>
        </visual>
        <collision name="Leg_Thorax_Left_Link3">
            <origin xyz="0.006562 0.001397 0.020464" rpy="-0.386685 4.712156 0.606728" />
            <geometry>
                <box size="0.003000 0.020001 0.033503" />
            </geometry>
        </collision>
        <visual>
            <origin xyz="0.006562 0.001397 0.020464" rpy="-0.386685 4.712156 0.606728" />
            <geometry>
                <box size="0.003000 0.020001 0.033503" />
            </geometry>
        </visual>
        <collision name="Leg_Thorax_Left_Link3">
            <origin xyz="0.006569 0.001402 -0.020536" rpy="-0.430649 4.712152 0.650692" />
            <geometry>
                <box size="0.003000 0.020001 0.033501" />
            </geometry>
        </collision>
        <visual>
            <origin xyz="0.006569 0.001402 -0.020536" rpy="-0.430649 4.712152 0.650692" />
            <geometry>
                <box size="0.003000 0.020001 0.033501" />
            </geometry>
        </visual>
        <collision name="Leg_Thorax_Left_Link3">
            <origin xyz="0.021585 0.004758 -0.000032" rpy="3.141403 3.141377 0.219996" />
            <geometry>
                <box size="0.003284 0.020005 0.044002" />
            </geometry>
        </collision>
        <visual>
            <origin xyz="0.021585 0.004758 -0.000032" rpy="3.141403 3.141377 0.219996" />
            <geometry>
                <box size="0.003284 0.020005 0.044002" />
            </geometry>
        </visual>
    </link>
    <joint name="Forcesensor0" type="fixed">
        <axis xyz="0 0 1" />
        <parent link="LegThoraxLeftLink3" />
        <child link="Tips0" />
        <origin xyz="0.068244 -0.169435 -0.000008" rpy="1.057150 4.712143 0.733638" />
    </joint>
    <link name="Tips0">
        <inertial>
            <origin rpy="-1.591789 1.570817 -0.054334" xyz="-0.000029 0.000063 0.000024" />
            <inertia izz="5.1026481258474e-07" iyz="0.0" ixx="5.1026481258474e-07" iyy="5.1026481258474e-07" ixz="0.0" ixy="0.0" />
            <mass value="0.0081710303202271" />
        </inertial>
        <collision name="Tips0">
            <origin xyz="-0.000029 0.000063 0.000024" rpy="-1.591789 1.570817 -0.054334" />
            <geometry>
                <sphere radius="0.012494802474976" />
            </geometry>
        </collision>
        <visual>
            <origin xyz="-0.000029 0.000063 0.000024" rpy="-1.591789 1.570817 -0.054334" />
            <geometry>
                <sphere radius="0.012494802474976" />
            </geometry>
        </visual>
    </link>
    <joint name="dbAlphaBC5" type="revolute">
        <axis xyz="0 0 1" />
        <limit effort="4.0999999046326" upper="0.52359879016876" lower="-0.52359879016876" velocity="1.0471975803375" />
        <parent link="base_link" />
        <child link="LegAbdomenRearRightLink1" />
        <origin xyz="-0.075830 -0.059736 0.327817" rpy="2.572034 3.972547 -0.285554" />
    </joint>
    <link name="LegAbdomenRearRightLink1">
        <inertial>
            <origin rpy="3.141468 3.141310 -2.867234" xyz="-0.000088 0.000565 -0.028800" />
            <inertia izz="2.7032945074644e-05" iyz="3.8403333722007e-06" ixx="5.2499231550432e-05" iyy="4.4062315572048e-05" ixz="-5.4987206415571e-10" ixy="3.052183779589e-10" />
            <mass value="0.10400000214577" />
        </inertial>
        <collision name="Leg_Abdomen_RearRight_Link1">
            <origin xyz="-0.001033 0.003917 -0.036038" rpy="-2.384703 4.712364 -2.053322" />
            <geometry>
                <box size="0.028500 0.034004 0.046503" />
            </geometry>
        </collision>
        <visual>
            <origin xyz="-0.001033 0.003917 -0.036038" rpy="-2.384703 4.712364 -2.053322" />
            <geometry>
                <box size="0.028500 0.034004 0.046503" />
            </geometry>
        </visual>

        <collision name="Leg_Abdomen_RearRight_Link1">
            <origin xyz="-0.004283 0.015470 -0.036041" rpy="2.096742 4.712261 -1.822453" />
            <geometry>
                <cylinder length="0.038001298904419" radius="0.0097467601299286" />
            </geometry>
        </collision>
        <visual>
            <origin xyz="-0.004283 0.015470 -0.036041" rpy="2.096742 4.712261 -1.822453" />
            <geometry>
                <cylinder length="0.038001298904419" radius="0.0097467601299286" />
            </geometry>
        </visual>
        <collision name="Leg_Abdomen_RearRight_Link1">
            <origin xyz="-0.005907 0.021245 0.002212" rpy="0.000161 3.141617 1.845083" />
            <geometry>
                <box size="0.005001 0.022007 0.048004" />
            </geometry>
        </collision>
        <visual>
            <origin xyz="-0.005907 0.021245 0.002212" rpy="0.000161 3.141617 1.845083" />
            <geometry>
                <box size="0.005001 0.022007 0.048004" />
            </geometry>
        </visual>
        <collision name="Leg_Abdomen_RearRight_Link1">
            <origin xyz="-0.001100 0.004158 -0.019288" rpy="0.252112 4.712370 -1.548597" />
            <geometry>
                <box size="0.005000 0.022001 0.040501" />
            </geometry>
        </collision>
        <visual>
            <origin xyz="-0.001100 0.004158 -0.019288" rpy="0.252112 4.712370 -1.548597" />
            <geometry>
                <box size="0.005000 0.022001 0.040501" />
            </geometry>
        </visual>
        <collision name="Leg_Abdomen_RearRight_Link1">
            <origin xyz="-0.001850 0.006824 0.023712" rpy="0.559619 4.712370 -1.856103" />
            <geometry>
                <box size="0.005000 0.022001 0.034963" />
            </geometry>
        </collision>
        <visual>
            <origin xyz="-0.001850 0.006824 0.023712" rpy="0.559619 4.712370 -1.856103" />
            <geometry>
                <box size="0.005000 0.022001 0.034963" />
            </geometry>
        </visual>
    </link>
    <joint name="dbAlphaCF5" type="revolute">
        <axis xyz="0 0 1" />
        <limit effort="4.0999999046326" upper="0.52359879016876" lower="-1.0471975803375" velocity="1.0471975803375" />
        <parent link="LegAbdomenRearRightLink1" />
        <child link="LegAbdomenRearRightLink2" />
        <origin xyz="-0.004280 0.015405 -0.036056" rpy="-1.570969 3.055981 1.845401" />
    </joint>
    <link name="LegAbdomenRearRightLink2">
        <inertial>
            <origin rpy="-1.570492 3.142556 -1.870455" xyz="-0.124858 0.033692 0.000034" />
            <inertia izz="6.0229770492285e-05" iyz="9.6158924203723e-08" ixx="0.00068489465771282" iyy="0.00066760998771" ixz="6.2579366187629e-05" ixy="-2.0991058265942e-08" />
            <mass value="0.18299999833107" />
        </inertial>
        <collision name="Leg_Abdomen_RearRight_Link2">
            <origin xyz="-0.161275 0.047570 0.000012" rpy="1.570903 3.141935 -2.008758" />
            <geometry>
                <box size="0.028501 0.034006 0.046504" />
            </geometry>
        </collision>
        <visual>
            <origin xyz="-0.161275 0.047570 0.000012" rpy="1.570903 3.141935 -2.008758" />
            <geometry>
                <box size="0.028501 0.034006 0.046504" />
            </geometry>
        </visual>
        <collision name="Leg_Abdomen_RearRight_Link2">
            <origin xyz="-0.172143 0.052659 0.000015" rpy="3.141490 3.142134 -1.596230" />
            <geometry>
                <cylinder length="0.038004398345947" radius="0.0097034871578217" />
            </geometry>
        </collision>
        <visual>
            <origin xyz="-0.172143 0.052659 0.000015" rpy="3.141490 3.142134 -1.596230" />
            <geometry>
                <cylinder length="0.038004398345947" radius="0.0097034871578217" />
            </geometry>
        </visual>
        <collision name="Leg_Abdomen_RearRight_Link2">
            <origin xyz="-0.035399 -0.021060 -0.000021" rpy="3.141081 3.141729 -0.223203" />
            <geometry>
                <cylinder length="0.038001239299774" radius="0.003463476896286" />
            </geometry>
        </collision>
        <visual>
            <origin xyz="-0.035399 -0.021060 -0.000021" rpy="3.141081 3.141729 -0.223203" />
            <geometry>
                <cylinder length="0.038001239299774" radius="0.003463476896286" />
            </geometry>
        </visual>
        <collision name="Leg_Abdomen_RearRight_Link2">
            <origin xyz="-0.079821 0.019352 -0.000003" rpy="3.141081 3.141725 -0.223228" />
            <geometry>
                <cylinder length="0.038001239299774" radius="0.0034632980823517" />
            </geometry>
        </collision>
        <visual>
            <origin xyz="-0.079821 0.019352 -0.000003" rpy="3.141081 3.141725 -0.223228" />
            <geometry>
                <cylinder length="0.038001239299774" radius="0.0034632980823517" />
            </geometry>
        </visual>
        <collision name="Leg_Abdomen_RearRight_Link2">
            <origin xyz="-0.013374 -0.005962 0.020483" rpy="0.623693 1.571077 -2.257726" />
            <geometry>
                <box size="0.003011 0.030395 0.054790" />
            </geometry>
        </collision>
        <visual>
            <origin xyz="-0.013374 -0.005962 0.020483" rpy="0.623693 1.571077 -2.257726" />
            <geometry>
                <box size="0.003011 0.030395 0.054790" />
            </geometry>
        </visual>
        <collision name="Leg_Abdomen_RearRight_Link2">
            <origin xyz="-0.013376 -0.005946 -0.020517" rpy="0.623281 1.571077 -2.258139" />
            <geometry>
                <box size="0.003011 0.030395 0.054791" />
            </geometry>
        </collision>
        <visual>
            <origin xyz="-0.013376 -0.005946 -0.020517" rpy="0.623281 1.571077 -2.258139" />
            <geometry>
                <box size="0.003011 0.030395 0.054791" />
            </geometry>
        </visual>
        <collision name="Leg_Abdomen_RearRight_Link2">
            <origin xyz="-0.084900 0.011811 -0.020506" rpy="-0.970769 1.571174 -1.408810" />
            <geometry>
                <box size="0.003000 0.030009 0.122176" />
            </geometry>
        </collision>
        <visual>
            <origin xyz="-0.084900 0.011811 -0.020506" rpy="-0.970769 1.571174 -1.408810" />
            <geometry>
                <box size="0.003000 0.030009 0.122176" />
            </geometry>
        </visual>
        <collision name="Leg_Abdomen_RearRight_Link2">
            <origin xyz="-0.138862 0.037074 0.000007" rpy="3.141147 3.141917 -0.438307" />
            <geometry>
                <box size="0.003015 0.030007 0.044004" />
            </geometry>
        </collision>
        <visual>
            <origin xyz="-0.138862 0.037074 0.000007" rpy="3.141147 3.141917 -0.438307" />
            <geometry>
                <box size="0.003015 0.030007 0.044004" />
            </geometry>
        </visual>
        <collision name="Leg_Abdomen_RearRight_Link2">
            <origin xyz="-0.084897 0.011796 0.020494" rpy="-0.984523 1.571180 -1.422563" />
            <geometry>
                <box size="0.003000 0.030010 0.122176" />
            </geometry>
        </collision>
        <visual>
            <origin xyz="-0.084897 0.011796 0.020494" rpy="-0.984523 1.571180 -1.422563" />
            <geometry>
                <box size="0.003000 0.030010 0.122176" />
            </geometry>
        </visual>
    </link>
    <joint name="dbAlphaFT5" type="revolute">
        <axis xyz="0 0 1" />
        <limit effort="4.0999999046326" upper="0.87266466021538" lower="-1.2217305004597" velocity="1.0471975803375" />
        <parent link="LegAbdomenRearRightLink2" />
        <child link="LegAbdomenRearRightLink3" />
        <origin xyz="-0.172112 0.052719 0.000030" rpy="-0.000501 3.141578 0.450570" />
    </joint>
    <link name="LegAbdomenRearRightLink3">
        <inertial>
            <origin rpy="2.668641 1.571112 -0.980855" xyz="0.069496 -0.008483 0.000022" />
            <inertia izz="5.1196464232152e-06" iyz="-7.377442165811e-06" ixx="0.00011591129427785" iyy="0.00011579839471594" ixz="-2.0819828371016e-08" ixy="3.3509589986352e-10" />
            <mass value="0.034841045737267" />
        </inertial>
        <collision name="Leg_Abdomen_RearRight_Link3">
            <origin xyz="0.003350 0.005898 0.020518" rpy="2.496562 4.711937 1.708130" />
            <geometry>
                <box size="0.003009 0.020002 0.033502" />
            </geometry>
        </collision>
        <visual>
            <origin xyz="0.003350 0.005898 0.020518" rpy="2.496562 4.711937 1.708130" />
            <geometry>
                <box size="0.003009 0.020002 0.033502" />
            </geometry>
        </visual>
        <collision name="Leg_Abdomen_RearRight_Link3">
            <origin xyz="0.003349 0.005906 -0.020482" rpy="2.509552 4.712222 1.694969" />
            <geometry>
                <box size="0.003000 0.020003 0.033502" />
            </geometry>
        </collision>
        <visual>
            <origin xyz="0.003349 0.005906 -0.020482" rpy="2.509552 4.712222 1.694969" />
            <geometry>
                <box size="0.003000 0.020003 0.033502" />
            </geometry>
        </visual>
        <collision name="Leg_Abdomen_RearRight_Link3">
            <origin xyz="0.010833 0.019352 0.000020" rpy="-0.000127 3.141731 -2.078542" />
            <geometry>
                <box size="0.003284 0.020010 0.044004" />
            </geometry>
        </collision>
        <visual>
            <origin xyz="0.010833 0.019352 0.000020" rpy="-0.000127 3.141731 -2.078542" />
            <geometry>
                <box size="0.003284 0.020010 0.044004" />
            </geometry>
        </visual>
        <collision name="Leg_Abdomen_RearRight_Link3">
            <origin xyz="0.085110 -0.013440 0.000018" rpy="-1.570822 2.984388 1.063049" />
            <geometry>
                <cylinder length="0.18170094490051" radius="0.0069939754903316" />
            </geometry>
        </collision>
        <visual>
            <origin xyz="0.085110 -0.013440 0.000018" rpy="-1.570822 2.984388 1.063049" />
            <geometry>
                <cylinder length="0.18170094490051" radius="0.0069939754903316" />
            </geometry>
        </visual>
    </link>
    <joint name="Forcesensor5" type="fixed">
        <axis xyz="0 0 1" />
        <parent link="LegAbdomenRearRightLink3" />
        <child link="Tips5" />
        <origin xyz="0.171859 -0.061745 -0.000012" rpy="1.379394 1.571223 0.900710" />
    </joint>
    <link name="Tips5">
        <inertial>
            <origin rpy="0.592738 1.599772 -1.574868" xyz="-0.000017 0.000033 0.000059" />
            <inertia izz="5.0735046735656e-07" iyz="0.0" ixx="5.0735046735656e-07" iyy="5.0735046735656e-07" ixz="0.0" ixy="0.0" />
            <mass value="0.0081429975107312" />
        </inertial>
        <collision name="Tips5">
            <origin xyz="-0.000017 0.000033 0.000059" rpy="0.592738 1.599772 -1.574868" />
            <geometry>
                <sphere radius="0.012480497360229" />
            </geometry>
        </collision>
        <visual>
            <origin xyz="-0.000017 0.000033 0.000059" rpy="0.592738 1.599772 -1.574868" />
            <geometry>
                <sphere radius="0.012480497360229" />
            </geometry>
        </visual>
    </link>
    <joint name="dbAlphaBC2" type="revolute">
        <axis xyz="0 0 1" />
        <limit effort="4.0999999046326" upper="0.52359879016876" lower="-0.52359879016876" velocity="1.0471975803375" />
        <parent link="base_link" />
        <child link="LegAbdomenRearLeftLink1" />
        <origin xyz="-0.077825 0.056619 0.326344" rpy="0.558570 2.276811 -1.411648" />
    </joint>
    <link name="LegAbdomenRearLeftLink1">
        <inertial>
            <origin rpy="0.000319 3.141814 1.171951" xyz="0.006831 -0.002893 0.028884" />
            <inertia izz="2.7032945074644e-05" iyz="3.8403333722007e-06" ixx="5.2499231550432e-05" iyy="4.4062315572048e-05" ixz="-5.4987206415571e-10" ixy="3.052183779589e-10" />
            <mass value="0.10400000214577" />
        </inertial>
        <collision name="Leg_Abdomen_RearLeft_Link1">
            <origin xyz="0.020214 -0.008531 -0.002127" rpy="-0.000136 3.141379 -0.398924" />
            <geometry>
                <box size="0.005000 0.022004 0.048000" />
            </geometry>
        </collision>
        <visual>
            <origin xyz="0.020214 -0.008531 -0.002127" rpy="-0.000136 3.141379 -0.398924" />
            <geometry>
                <box size="0.005000 0.022004 0.048000" />
            </geometry>
        </visual>
        <collision name="Leg_Abdomen_RearLeft_Link1">
            <origin xyz="0.014681 -0.006201 0.036125" rpy="-1.570986 2.288704 -0.399128" />
            <geometry>
                <cylinder length="0.038002192974091" radius="0.0097463876008987" />
            </geometry>
        </collision>
        <visual>
            <origin xyz="0.014681 -0.006201 0.036125" rpy="-1.570986 2.288704 -0.399128" />
            <geometry>
                <cylinder length="0.038002192974091" radius="0.0097463876008987" />
            </geometry>
        </visual>
        <collision name="Leg_Abdomen_RearLeft_Link1">
            <origin xyz="0.002005 -0.000856 0.019368" rpy="-2.932471 1.571023 2.951813" />
            <geometry>
                <box size="0.005000 0.022001 0.036487" />
            </geometry>
        </collision>
        <visual>
            <origin xyz="0.002005 -0.000856 0.019368" rpy="-2.932471 1.571023 2.951813" />
            <geometry>
                <box size="0.005000 0.022001 0.036487" />
            </geometry>
        </visual>
        <collision name="Leg_Abdomen_RearLeft_Link1">
            <origin xyz="0.006413 -0.002713 -0.023631" rpy="-2.900996 1.571027 2.983297" />
            <geometry>
                <box size="0.005001 0.022001 0.034963" />
            </geometry>
        </collision>
        <visual>
            <origin xyz="0.006413 -0.002713 -0.023631" rpy="-2.900996 1.571027 2.983297" />
            <geometry>
                <box size="0.005001 0.022001 0.034963" />
            </geometry>
        </visual>
        <collision name="Leg_Abdomen_RearLeft_Link1">
            <origin xyz="0.003619 -0.001538 0.036118" rpy="-2.895012 1.571015 2.989333" />
            <geometry>
                <box size="0.028500 0.034004 0.046503" />
            </geometry>
        </collision>
        <visual>
            <origin xyz="0.003619 -0.001538 0.036118" rpy="-2.895012 1.571015 2.989333" />
            <geometry>
                <box size="0.028500 0.034004 0.046503" />
            </geometry>
        </visual>
    </link>
    <joint name="dbAlphaCF2" type="revolute">
        <axis xyz="0 0 1" />
        <limit effort="4.0999999046326" upper="0.52359879016876" lower="-1.0471975803375" velocity="1.0471975803375" />
        <parent link="LegAbdomenRearLeftLink1" />
        <child link="LegAbdomenRearLeftLink2" />
        <origin xyz="0.014680 -0.006214 0.036059" rpy="-1.570532 2.263348 2.742821" />
    </joint>
    <link name="LegAbdomenRearLeftLink2">
        <inertial>
            <origin rpy="-1.570819 3.141018 2.062221" xyz="0.111686 0.065006 0.000004" />
            <inertia izz="6.0229770492285e-05" iyz="9.6158924203723e-08" ixx="0.00068489465771282" iyy="0.00066760998771" ixz="6.2579366187629e-05" ixy="-2.0991058265942e-08" />
            <mass value="0.18299999833107" />
        </inertial>
        <collision name="Leg_Abdomen_RearLeft_Link2">
            <origin xyz="0.067958 0.052091 0.020496" rpy="-2.951642 4.712266 0.165104" />
            <geometry>
                <box size="0.003000 0.030027 0.122174" />
            </geometry>
        </collision>
        <visual>
            <origin xyz="0.067958 0.052091 0.020496" rpy="-2.951642 4.712266 0.165104" />
            <geometry>
                <box size="0.003000 0.030027 0.122174" />
            </geometry>
        </visual>
        <collision name="Leg_Abdomen_RearLeft_Link2">
            <origin xyz="0.158293 0.085562 0.000008" rpy="-3.141490 3.141860 -2.517074" />
            <geometry>
                <cylinder length="0.038004219532013" radius="0.0097032189369202" />
            </geometry>
        </collision>
        <visual>
            <origin xyz="0.158293 0.085562 0.000008" rpy="-3.141490 3.141860 -2.517074" />
            <geometry>
                <cylinder length="0.038004219532013" radius="0.0097032189369202" />
            </geometry>
        </visual>
        <collision name="Leg_Abdomen_RearLeft_Link2">
            <origin xyz="0.009765 0.039920 -0.000011" rpy="-3.141362 3.141568 1.536249" />
            <geometry>
                <cylinder length="0.038000285625458" radius="0.003463089466095" />
            </geometry>
        </collision>
        <visual>
            <origin xyz="0.009765 0.039920 -0.000011" rpy="-3.141362 3.141568 1.536249" />
            <geometry>
                <cylinder length="0.038000285625458" radius="0.003463089466095" />
            </geometry>
        </visual>
        <collision name="Leg_Abdomen_RearLeft_Link2">
            <origin xyz="0.069687 0.043179 -0.000004" rpy="-3.141319 3.141677 2.503005" />
            <geometry>
                <cylinder length="0.038001418113708" radius="0.0034637004137039" />
            </geometry>
        </collision>
        <visual>
            <origin xyz="0.069687 0.043179 -0.000004" rpy="-3.141319 3.141677 2.503005" />
            <geometry>
                <cylinder length="0.038001418113708" radius="0.0034637004137039" />
            </geometry>
        </visual>
        <collision name="Leg_Abdomen_RearLeft_Link2">
            <origin xyz="0.147041 0.081392 0.000007" rpy="-1.570512 3.141614 1.925634" />
            <geometry>
                <box size="0.028500 0.034007 0.046506" />
            </geometry>
        </collision>
        <visual>
            <origin xyz="0.147041 0.081392 0.000007" rpy="-1.570512 3.141614 1.925634" />
            <geometry>
                <box size="0.028500 0.034007 0.046506" />
            </geometry>
        </visual>
        <collision name="Leg_Abdomen_RearLeft_Link2">
            <origin xyz="0.123833 0.072794 0.000003" rpy="-0.000030 3.141682 -2.786618" />
            <geometry>
                <box size="0.003005 0.030001 0.044000" />
            </geometry>
        </collision>
        <visual>
            <origin xyz="0.123833 0.072794 0.000003" rpy="-0.000030 3.141682 -2.786618" />
            <geometry>
                <box size="0.003005 0.030001 0.044000" />
            </geometry>
        </visual>
        <collision name="Leg_Abdomen_RearLeft_Link2">
            <origin xyz="0.005112 0.013607 -0.020512" rpy="-2.263484 4.711980 0.174860" />
            <geometry>
                <box size="0.003011 0.030395 0.054791" />
            </geometry>
        </collision>
        <visual>
            <origin xyz="0.005112 0.013607 -0.020512" rpy="-2.263484 4.711980 0.174860" />
            <geometry>
                <box size="0.003011 0.030395 0.054791" />
            </geometry>
        </visual>
        <collision name="Leg_Abdomen_RearLeft_Link2">
            <origin xyz="0.005107 0.013607 0.020488" rpy="-2.263945 4.711980 0.175318" />
            <geometry>
                <box size="0.003012 0.030395 0.054789" />
            </geometry>
        </collision>
        <visual>
            <origin xyz="0.005107 0.013607 0.020488" rpy="-2.263945 4.711980 0.175318" />
            <geometry>
                <box size="0.003012 0.030395 0.054789" />
            </geometry>
        </visual>
        <collision name="Leg_Abdomen_RearLeft_Link2">
            <origin xyz="0.067963 0.052092 -0.020504" rpy="-2.916652 4.712265 0.130115" />
            <geometry>
                <box size="0.003000 0.030027 0.122174" />
            </geometry>
        </collision>
        <visual>
            <origin xyz="0.067963 0.052092 -0.020504" rpy="-2.916652 4.712265 0.130115" />
            <geometry>
                <box size="0.003000 0.030027 0.122174" />
            </geometry>
        </visual>
    </link>
    <joint name="dbAlphaFT2" type="revolute">
        <axis xyz="0 0 1" />
        <limit effort="4.0999999046326" upper="0.87266466021538" lower="-1.2217305004597" velocity="1.0471975803375" />
        <parent link="LegAbdomenRearLeftLink2" />
        <child link="LegAbdomenRearLeftLink3" />
        <origin xyz="0.158348 0.085601 0.000020" rpy="0.000036 3.141694 1.814531" />
    </joint>
    <link name="LegAbdomenRearLeftLink3">
        <inertial>
            <origin rpy="0.344025 1.571112 -2.734134" xyz="-0.063020 -0.030327 -0.000002" />
            <inertia izz="5.1164826760089e-06" iyz="-7.3544077796331e-06" ixx="0.00011590825945282" iyy="0.00011579829153981" ixz="3.5356032003236e-08" ixy="4.538873108476e-09" />
            <mass value="0.034840602427721" />
        </inertial>
        <collision name="Leg_Abdomen_RearLeft_Link3">
            <origin xyz="0.000405 -0.006670 -0.020491" rpy="0.446235 1.571175 -1.060888" />
            <geometry>
                <box size="0.003009 0.020006 0.033503" />
            </geometry>
        </collision>
        <visual>
            <origin xyz="0.000405 -0.006670 -0.020491" rpy="0.446235 1.571175 -1.060888" />
            <geometry>
                <box size="0.003009 0.020006 0.033503" />
            </geometry>
        </visual>
        <collision name="Leg_Abdomen_RearLeft_Link3">
            <origin xyz="0.000405 -0.006673 0.020509" rpy="3.064033 1.570919 -1.584937" />
            <geometry>
                <box size="0.003000 0.020000 0.033501" />
            </geometry>
        </collision>
        <visual>
            <origin xyz="0.000405 -0.006673 0.020509" rpy="3.064033 1.570919 -1.584937" />
            <geometry>
                <box size="0.003000 0.020000 0.033501" />
            </geometry>
        </visual>
        <collision name="Leg_Abdomen_RearLeft_Link3">
            <origin xyz="0.001381 -0.022032 0.000007" rpy="-0.000106 3.141472 1.634217" />
            <geometry>
                <box size="0.003284 0.020005 0.044002" />
            </geometry>
        </collision>
        <visual>
            <origin xyz="0.001381 -0.022032 0.000007" rpy="-0.000106 3.141472 1.634217" />
            <geometry>
                <box size="0.003284 0.020005 0.044002" />
            </geometry>
        </visual>
        <collision name="Leg_Abdomen_RearLeft_Link3">
            <origin xyz="-0.078834 -0.034597 0.000001" rpy="-1.570886 3.927155 -1.507347" />
            <geometry>
                <cylinder length="0.18170118331909" radius="0.0069940090179443" />
            </geometry>
        </collision>
        <visual>
            <origin xyz="-0.078834 -0.034597 0.000001" rpy="-1.570886 3.927155 -1.507347" />
            <geometry>
                <cylinder length="0.18170118331909" radius="0.0069940090179443" />
            </geometry>
        </visual>
    </link>
    <joint name="Forcesensor2" type="fixed">
        <axis xyz="0 0 1" />
        <parent link="LegAbdomenRearLeftLink3" />
        <child link="Tips2" />
        <origin xyz="-0.177960 -0.040960 -0.000006" rpy="-1.609836 4.711654 1.703492" />
    </joint>
    <link name="Tips2">
        <inertial>
            <origin rpy="0.482853 1.601286 1.569078" xyz="0.000010 0.000067 0.000016" />
            <inertia izz="5.0744742153306e-07" iyz="0.0" ixx="5.0744742153306e-07" iyy="5.0744742153306e-07" ixz="0.0" ixy="0.0" />
            <mass value="0.008143930695951" />
        </inertial>
        <collision name="Tips2">
            <origin xyz="0.000010 0.000067 0.000016" rpy="0.482853 1.601286 1.569078" />
            <geometry>
                <sphere radius="0.012480974197388" />
            </geometry>
        </collision>
        <visual>
            <origin xyz="0.000010 0.000067 0.000016" rpy="0.482853 1.601286 1.569078" />
            <geometry>
                <sphere radius="0.012480974197388" />
            </geometry>
        </visual>
    </link>
    <joint name="dbAlphaBC4" type="revolute">
        <axis xyz="0 0 1" />
        <limit effort="4.0999999046326" upper="0.52359879016876" lower="-0.52359879016876" velocity="1.0471975803375" />
        <parent link="base_link" />
        <child link="LegAbdomenMidRightLink1" />
        <origin xyz="0.031540 -0.044628 0.319708" rpy="2.401809 3.356364 0.717962" />
    </joint>
    <link name="LegAbdomenMidRightLink1">
        <inertial>
            <origin rpy="-3.141280 3.141449 2.368424" xyz="0.001039 -0.000259 -0.028831" />
            <inertia izz="2.7032945074644e-05" iyz="3.8403333722007e-06" ixx="5.2499231550432e-05" iyy="4.4062315572048e-05" ixz="-5.4987206415571e-10" ixy="3.052183779589e-10" />
            <mass value="0.10400000214577" />
        </inertial>
        <collision name="Leg_Abdomen_MidRight_Link1">
            <origin xyz="0.004906 0.005060 0.023687" rpy="-0.460671 4.712040 1.258717" />
            <geometry>
                <box size="0.005013 0.022005 0.034967" />
            </geometry>
        </collision>
        <visual>
            <origin xyz="0.004906 0.005060 0.023687" rpy="-0.460671 4.712040 1.258717" />
            <geometry>
                <box size="0.005013 0.022005 0.034967" />
            </geometry>
        </visual>
        <collision name="Leg_Abdomen_MidRight_Link1">
            <origin xyz="0.011872 0.010841 -0.036072" rpy="-1.570700 4.276066 0.797957" />
            <geometry>
                <cylinder length="0.039901494979858" radius="0.0097337663173676" />
            </geometry>
        </collision>
        <visual>
            <origin xyz="0.011872 0.010841 -0.036072" rpy="-1.570700 4.276066 0.797957" />
            <geometry>
                <cylinder length="0.039901494979858" radius="0.0097337663173676" />
            </geometry>
        </visual>
        <collision name="Leg_Abdomen_MidRight_Link1">
            <origin xyz="0.002797 0.002897 -0.036063" rpy="-0.460671 4.712040 1.258717" />
            <geometry>
                <box size="0.028522 0.034016 0.046518" />
            </geometry>
        </collision>
        <visual>
            <origin xyz="0.002797 0.002897 -0.036063" rpy="-0.460671 4.712040 1.258717" />
            <geometry>
                <box size="0.028522 0.034016 0.046518" />
            </geometry>
        </visual>
        <collision name="Leg_Abdomen_MidRight_Link1">
            <origin xyz="0.000703 0.000750 -0.019314" rpy="-0.460671 4.712040 1.258717" />
            <geometry>
                <box size="0.005015 0.022008 0.034005" />
            </geometry>
        </collision>
        <visual>
            <origin xyz="0.000703 0.000750 -0.019314" rpy="-0.460671 4.712040 1.258717" />
            <geometry>
                <box size="0.005015 0.022008 0.034005" />
            </geometry>
        </visual>
        <collision name="Leg_Abdomen_MidRight_Link1">
            <origin xyz="0.014842 0.015246 0.002188" rpy="-0.000126 3.141629 0.797799" />
            <geometry>
                <box size="0.006501 0.022007 0.048000" />
            </geometry>
        </collision>
        <visual>
            <origin xyz="0.014842 0.015246 0.002188" rpy="-0.000126 3.141629 0.797799" />
            <geometry>
                <box size="0.006501 0.022007 0.048000" />
            </geometry>
        </visual>
    </link>
    <joint name="dbAlphaCF4" type="revolute">
        <axis xyz="0 0 1" />
        <limit effort="4.0999999046326" upper="0.17453292012215" lower="-1.3962634503841" velocity="1.0471975803375" />
        <parent link="LegAbdomenMidRightLink1" />
        <child link="LegAbdomenMidRightLink2" />
        <origin xyz="0.011118 0.011451 -0.036051" rpy="-1.570062 1.861257 0.798696" />
    </joint>
    <link name="LegAbdomenMidRightLink2">
        <inertial>
            <origin rpy="-1.570802 3.141221 -0.314918" xyz="-0.035748 -0.124387 -0.000017" />
            <inertia izz="6.0229770492285e-05" iyz="9.6158924203723e-08" ixx="0.00068489465771282" iyy="0.00066760998771" ixz="6.2579366187629e-05" ixy="-2.0991058265942e-08" />
            <mass value="0.18299999833107" />
        </inertial>
        <collision name="Leg_Abdomen_MidRight_Link2">
            <origin xyz="-0.021500 -0.079164 -0.000037" rpy="3.141510 3.141847 -1.095983" />
            <geometry>
                <cylinder length="0.037999510765076" radius="0.0034619718790054" />
            </geometry>
        </collision>
        <visual>
            <origin xyz="-0.021500 -0.079164 -0.000037" rpy="3.141510 3.141847 -1.095983" />
            <geometry>
                <cylinder length="0.037999510765076" radius="0.0034619718790054" />
            </geometry>
        </visual>
        <collision name="Leg_Abdomen_MidRight_Link2">
            <origin xyz="0.020161 -0.035864 -0.000028" rpy="-3.141552 3.141495 0.595709" />
            <geometry>
                <cylinder length="0.038002133369446" radius="0.0034646689891815" />
            </geometry>
        </collision>
        <visual>
            <origin xyz="0.020161 -0.035864 -0.000028" rpy="-3.141552 3.141495 0.595709" />
            <geometry>
                <cylinder length="0.038002133369446" radius="0.0034646689891815" />
            </geometry>
        </visual>
        <collision name="Leg_Abdomen_MidRight_Link2">
            <origin xyz="-0.051894 -0.159922 -0.000056" rpy="-1.570844 3.141515 -0.464774" />
            <geometry>
                <box size="0.028516 0.034014 0.046510" />
            </geometry>
        </collision>
        <visual>
            <origin xyz="-0.051894 -0.159922 -0.000056" rpy="-1.570844 3.141515 -0.464774" />
            <geometry>
                <box size="0.028516 0.034014 0.046510" />
            </geometry>
        </visual>
        <collision name="Leg_Abdomen_MidRight_Link2">
            <origin xyz="-0.040797 -0.137799 -0.000051" rpy="-0.000039 3.141410 1.105873" />
            <geometry>
                <box size="0.003001 0.030006 0.044004" />
            </geometry>
        </collision>
        <visual>
            <origin xyz="-0.040797 -0.137799 -0.000051" rpy="-0.000039 3.141410 1.105873" />
            <geometry>
                <box size="0.003001 0.030006 0.044004" />
            </geometry>
        </visual>
        <collision name="Leg_Abdomen_MidRight_Link2">
            <origin xyz="-0.014081 -0.084545 0.020461" rpy="0.685607 1.571060 -1.349966" />
            <geometry>
                <box size="0.003001 0.030020 0.122173" />
            </geometry>
        </collision>
        <visual>
            <origin xyz="-0.014081 -0.084545 0.020461" rpy="0.685607 1.571060 -1.349966" />
            <geometry>
                <box size="0.003001 0.030020 0.122173" />
            </geometry>
        </visual>
        <collision name="Leg_Abdomen_MidRight_Link2">
            <origin xyz="0.005598 -0.013514 -0.020522" rpy="-0.008513 1.571065 -1.346112" />
            <geometry>
                <box size="0.003000 0.030394 0.054790" />
            </geometry>
        </collision>
        <visual>
            <origin xyz="0.005598 -0.013514 -0.020522" rpy="-0.008513 1.571065 -1.346112" />
            <geometry>
                <box size="0.003000 0.030394 0.054790" />
            </geometry>
        </visual>
        <collision name="Leg_Abdomen_MidRight_Link2">
            <origin xyz="-0.014083 -0.084534 -0.020539" rpy="0.684043 1.571061 -1.351531" />
            <geometry>
                <box size="0.003000 0.030019 0.122173" />
            </geometry>
        </collision>
        <visual>
            <origin xyz="-0.014083 -0.084534 -0.020539" rpy="0.684043 1.571061 -1.351531" />
            <geometry>
                <box size="0.003000 0.030019 0.122173" />
            </geometry>
        </visual>
        <collision name="Leg_Abdomen_MidRight_Link2">
            <origin xyz="-0.057274 -0.170648 -0.000059" rpy="-3.141296 3.141538 -2.337215" />
            <geometry>
                <cylinder length="0.038004159927368" radius="0.0097029507160187" />
            </geometry>
        </collision>
        <visual>
            <origin xyz="-0.057274 -0.170648 -0.000059" rpy="-3.141296 3.141538 -2.337215" />
            <geometry>
                <cylinder length="0.038004159927368" radius="0.0097029507160187" />
            </geometry>
        </visual>
        <collision name="Leg_Abdomen_MidRight_Link2">
            <origin xyz="0.005600 -0.013524 0.020479" rpy="0.037859 1.571060 -1.299732" />
            <geometry>
                <box size="0.003001 0.030395 0.054791" />
            </geometry>
        </collision>
        <visual>
            <origin xyz="0.005600 -0.013524 0.020479" rpy="0.037859 1.571060 -1.299732" />
            <geometry>
                <box size="0.003001 0.030395 0.054791" />
            </geometry>
        </visual>
    </link>
    <joint name="dbAlphaFT4" type="revolute">
        <axis xyz="0 0 1" />
        <limit effort="4.0999999046326" upper="0.87266466021538" lower="-1.2217305004597" velocity="1.0471975803375" />
        <parent link="LegAbdomenMidRightLink2" />
        <child link="LegAbdomenMidRightLink3" />
        <origin xyz="-0.057337 -0.170623 -0.000990" rpy="-0.000147 3.141068 1.423245" />
    </joint>
    <link name="LegAbdomenMidRightLink3">
        <inertial>
            <origin rpy="-1.943168 4.712081 -2.277318" xyz="0.053885 -0.044721 -0.000938" />
            <inertia izz="5.1125493897103e-06" iyz="7.3581661476704e-06" ixx="0.00011588453742704" iyy="0.00011577361284979" ixz="1.1992271696303e-08" ixy="-9.3471744231839e-10" />
            <mass value="0.034835625439882" />
        </inertial>
        <collision name="Leg_Abdomen_MidRight_Link3">
            <origin xyz="0.064333 -0.057323 -0.000939" rpy="-1.570867 1.727577 -2.649701" />
            <geometry>
                <cylinder length="0.18170189857483" radius="0.0069941058754921" />
            </geometry>
        </collision>
        <visual>
            <origin xyz="0.064333 -0.057323 -0.000939" rpy="-1.570867 1.727577 -2.649701" />
            <geometry>
                <cylinder length="0.18170189857483" radius="0.0069941058754921" />
            </geometry>
        </visual>
        <collision name="Leg_Abdomen_MidRight_Link3">
            <origin xyz="0.005999 0.003144 -0.021433" rpy="-0.034276 4.712104 -2.615327" />
            <geometry>
                <box size="0.003000 0.020002 0.033501" />
            </geometry>
        </collision>
        <visual>
            <origin xyz="0.005999 0.003144 -0.021433" rpy="-0.034276 4.712104 -2.615327" />
            <geometry>
                <box size="0.003000 0.020002 0.033501" />
            </geometry>
        </visual>
        <collision name="Leg_Abdomen_MidRight_Link3">
            <origin xyz="0.006009 0.003150 0.019567" rpy="-0.033448 4.712100 -2.616155" />
            <geometry>
                <box size="0.003001 0.020003 0.033501" />
            </geometry>
        </collision>
        <visual>
            <origin xyz="0.006009 0.003150 0.019567" rpy="-0.033448 4.712100 -2.616155" />
            <geometry>
                <box size="0.003001 0.020003 0.033501" />
            </geometry>
        </visual>
        <collision name="Leg_Abdomen_MidRight_Link3">
            <origin xyz="0.019570 0.010416 -0.000937" rpy="3.141443 3.141306 -2.649689" />
            <geometry>
                <box size="0.003284 0.020006 0.044003" />
            </geometry>
        </collision>
        <visual>
            <origin xyz="0.019570 0.010416 -0.000937" rpy="3.141443 3.141306 -2.649689" />
            <geometry>
                <box size="0.003284 0.020006 0.044003" />
            </geometry>
        </visual>
    </link>
    <joint name="Forcesensor4" type="fixed">
        <axis xyz="0 0 1" />
        <parent link="LegAbdomenMidRightLink3" />
        <child link="Tips4" />
        <origin xyz="0.111200 -0.144853 -0.000954" rpy="1.531175 1.571081 0.452284" />
    </joint>
    <link name="Tips4">
        <inertial>
            <origin rpy="0.455759 1.571049 -2.946360" xyz="-0.000017 0.000028 0.000062" />
            <inertia izz="5.0736263706836e-07" iyz="0.0" ixx="5.0736263706836e-07" iyy="5.0736263706836e-07" ixz="0.0" ixy="0.0" />
            <mass value="0.0081431148573756" />
        </inertial>
        <collision name="Tips4">
            <origin xyz="-0.000017 0.000028 0.000062" rpy="0.455759 1.571049 -2.946360" />
            <geometry>
                <sphere radius="0.012480556964874" />
            </geometry>
        </collision>
        <visual>
            <origin xyz="-0.000017 0.000028 0.000062" rpy="0.455759 1.571049 -2.946360" />
            <geometry>
                <sphere radius="0.012480556964874" />
            </geometry>
        </visual>
    </link>
    <joint name="dbAlphaBC1" type="revolute">
        <axis xyz="0 0 1" />
        <limit effort="4.0999999046326" upper="0.52359879016876" lower="-0.52359879016876" velocity="1.0471975803375" />
        <parent link="base_link" />
        <child link="dbAlphaL2link1" />
        <origin xyz="0.030037 0.044837 0.318627" rpy="0.449154 2.480486 -1.798721" />
    </joint>
    <link name="dbAlphaL2link1">
        <inertial>
            <origin rpy="0.000111 3.141803 1.022478" xyz="0.006422 -0.003863 0.028876" />
            <inertia izz="2.7032945074644e-05" iyz="3.8403333722007e-06" ixx="5.2499231550432e-05" iyy="4.4062315572048e-05" ixz="-5.4987206415571e-10" ixy="3.052183779589e-10" />
            <mass value="0.10400000214577" />
        </inertial>
        <collision name="dbAlpha_L2_link1">
            <origin xyz="0.006028 -0.003636 -0.023638" rpy="-1.075586 1.571038 1.517765" />
            <geometry>
                <box size="0.005001 0.022006 0.034966" />
            </geometry>
        </collision>
        <visual>
            <origin xyz="0.006028 -0.003636 -0.023638" rpy="-1.075586 1.571038 1.517765" />
            <geometry>
                <box size="0.005001 0.022006 0.034966" />
            </geometry>
        </visual>
        <collision name="dbAlpha_L2_link1">
            <origin xyz="0.013690 -0.008303 0.036113" rpy="-1.570801 2.750136 -0.548300" />
            <geometry>
                <cylinder length="0.038004994392395" radius="0.0097445547580719" />
            </geometry>
        </collision>
        <visual>
            <origin xyz="0.013690 -0.008303 0.036113" rpy="-1.570801 2.750136 -0.548300" />
            <geometry>
                <cylinder length="0.038004994392395" radius="0.0097445547580719" />
            </geometry>
        </visual>
        <collision name="dbAlpha_L2_link1">
            <origin xyz="0.003450 -0.002046 0.036111" rpy="-1.074403 1.571030 1.518948" />
            <geometry>
                <box size="0.028503 0.034012 0.046510" />
            </geometry>
        </collision>
        <visual>
            <origin xyz="0.003450 -0.002046 0.036111" rpy="-1.074403 1.571030 1.518948" />
            <geometry>
                <box size="0.028503 0.034012 0.046510" />
            </geometry>
        </visual>
        <collision name="dbAlpha_L2_link1">
            <origin xyz="0.018811 -0.011440 -0.002136" rpy="0.000059 3.141444 -0.548483" />
            <geometry>
                <box size="0.005000 0.022006 0.047997" />
            </geometry>
        </collision>
        <visual>
            <origin xyz="0.018811 -0.011440 -0.002136" rpy="0.000059 3.141444 -0.548483" />
            <geometry>
                <box size="0.005000 0.022006 0.047997" />
            </geometry>
        </visual>
        <collision name="dbAlpha_L2_link1">
            <origin xyz="0.003665 -0.002180 0.019361" rpy="-0.760595 1.571030 1.832293" />
            <geometry>
                <box size="0.005001 0.022008 0.040504" />
            </geometry>
        </collision>
        <visual>
            <origin xyz="0.003665 -0.002180 0.019361" rpy="-0.760595 1.571030 1.832293" />
            <geometry>
                <box size="0.005001 0.022008 0.040504" />
            </geometry>
        </visual>
    </link>
    <joint name="dbAlphaCF1" type="revolute">
        <axis xyz="0 0 1" />
        <limit effort="4.0999999046326" upper="0.17453292012215" lower="-1.3962634503841" velocity="1.0471975803375" />
        <parent link="dbAlphaL2link1" />
        <child link="dbAlphaL2link2" />
        <origin xyz="0.013706 -0.008333 0.036052" rpy="1.570781 4.421812 -0.548284" />
    </joint>
    <link name="dbAlphaL2link2">
        <inertial>
            <origin rpy="-1.570791 3.141966 -0.314918" xyz="-0.035804 -0.124296 0.000013" />
            <inertia izz="6.0229770492285e-05" iyz="9.6158924203723e-08" ixx="0.00068489465771282" iyy="0.00066760998771" ixz="6.2579366187629e-05" ixy="-2.0991058265942e-08" />
            <mass value="0.18299999833107" />
        </inertial>
        <collision name="dbAlpha_L2_link2">
            <origin xyz="-0.014138 -0.084443 0.020504" rpy="-0.708859 4.712120 -1.326714" />
            <geometry>
                <box size="0.003000 0.030019 0.122173" />
            </geometry>
        </collision>
        <visual>
            <origin xyz="-0.014138 -0.084443 0.020504" rpy="-0.708859 4.712120 -1.326714" />
            <geometry>
                <box size="0.003000 0.030019 0.122173" />
            </geometry>
        </visual>
        <collision name="dbAlpha_L2_link2">
            <origin xyz="-0.057330 -0.170557 0.000024" rpy="-3.141447 3.141575 -1.194816" />
            <geometry>
                <cylinder length="0.03800505399704" radius="0.0097036957740784" />
            </geometry>
        </collision>
        <visual>
            <origin xyz="-0.057330 -0.170557 0.000024" rpy="-3.141447 3.141575 -1.194816" />
            <geometry>
                <cylinder length="0.03800505399704" radius="0.0097036957740784" />
            </geometry>
        </visual>
        <collision name="dbAlpha_L2_link2">
            <origin xyz="0.020016 -0.035819 -0.000007" rpy="-3.141102 3.141628 0.354071" />
            <geometry>
                <cylinder length="0.038001537322998" radius="0.0034639537334442" />
            </geometry>
        </collision>
        <visual>
            <origin xyz="0.020016 -0.035819 -0.000007" rpy="-3.141102 3.141628 0.354071" />
            <geometry>
                <cylinder length="0.038001537322998" radius="0.0034639537334442" />
            </geometry>
        </visual>
        <collision name="dbAlpha_L2_link2">
            <origin xyz="-0.021573 -0.079088 0.000002" rpy="3.141550 3.141401 -0.612392" />
            <geometry>
                <cylinder length="0.038001954555511" radius="0.0034641623497009" />
            </geometry>
        </collision>
        <visual>
            <origin xyz="-0.021573 -0.079088 0.000002" rpy="3.141550 3.141401 -0.612392" />
            <geometry>
                <cylinder length="0.038001954555511" radius="0.0034641623497009" />
            </geometry>
        </visual>
        <collision name="dbAlpha_L2_link2">
            <origin xyz="-0.051949 -0.159831 0.000021" rpy="-1.570747 3.141672 -0.464774" />
            <geometry>
                <box size="0.028516 0.034014 0.046510" />
            </geometry>
        </collision>
        <visual>
            <origin xyz="-0.051949 -0.159831 0.000021" rpy="-1.570747 3.141672 -0.464774" />
            <geometry>
                <box size="0.028516 0.034014 0.046510" />
            </geometry>
        </visual>
        <collision name="dbAlpha_L2_link2">
            <origin xyz="-0.040852 -0.137708 0.000015" rpy="0.000165 3.141797 1.105864" />
            <geometry>
                <box size="0.003000 0.030001 0.043999" />
            </geometry>
        </collision>
        <visual>
            <origin xyz="-0.040852 -0.137708 0.000015" rpy="0.000165 3.141797 1.105864" />
            <geometry>
                <box size="0.003000 0.030001 0.043999" />
            </geometry>
        </visual>
        <collision name="dbAlpha_L2_link2">
            <origin xyz="0.005545 -0.013433 -0.020514" rpy="-0.006456 4.712124 -1.331139" />
            <geometry>
                <box size="0.003000 0.030394 0.054790" />
            </geometry>
        </collision>
        <visual>
            <origin xyz="0.005545 -0.013433 -0.020514" rpy="-0.006456 4.712124 -1.331139" />
            <geometry>
                <box size="0.003000 0.030394 0.054790" />
            </geometry>
        </visual>
        <collision name="dbAlpha_L2_link2">
            <origin xyz="0.005543 -0.013422 0.020486" rpy="-0.029793 4.712122 -1.307804" />
            <geometry>
                <box size="0.003001 0.030394 0.054790" />
            </geometry>
        </collision>
        <visual>
            <origin xyz="0.005543 -0.013422 0.020486" rpy="-0.029793 4.712122 -1.307804" />
            <geometry>
                <box size="0.003001 0.030394 0.054790" />
            </geometry>
        </visual>
        <collision name="dbAlpha_L2_link2">
            <origin xyz="-0.014136 -0.084453 -0.020496" rpy="-0.708578 4.712119 -1.326994" />
            <geometry>
                <box size="0.003000 0.030019 0.122173" />
            </geometry>
        </collision>
        <visual>
            <origin xyz="-0.014136 -0.084453 -0.020496" rpy="-0.708578 4.712119 -1.326994" />
            <geometry>
                <box size="0.003000 0.030019 0.122173" />
            </geometry>
        </visual>
    </link>
    <joint name="dbAlphaFT1" type="revolute">
        <axis xyz="0 0 1" />
        <limit effort="4.0999999046326" upper="0.87266466021538" lower="-1.2217305004597" velocity="1.0471975803375" />
        <parent link="dbAlphaL2link2" />
        <child link="dbAlphaL2link3" />
        <origin xyz="-0.057338 -0.170623 0.000041" rpy="-0.000108 3.141691 1.423217" />
    </joint>
    <link name="dbAlphaL2link3">
        <inertial>
            <origin rpy="-0.525657 1.571254 -1.604692" xyz="0.053773 -0.044727 0.000003" />
            <inertia izz="5.1125989489996e-06" iyz="-7.3578894522084e-06" ixx="0.00011588189743997" iyy="0.000115770900838" ixz="2.2630524636847e-08" ixy="1.7205502916649e-09" />
            <mass value="0.034835413098335" />
        </inertial>
        <collision name="dbAlpha_L2_link3">
            <origin xyz="0.005893 0.003147 -0.020483" rpy="2.356703 1.571067 -0.292928" />
            <geometry>
                <box size="0.003000 0.020002 0.033502" />
            </geometry>
        </collision>
        <visual>
            <origin xyz="0.005893 0.003147 -0.020483" rpy="2.356703 1.571067 -0.292928" />
            <geometry>
                <box size="0.003000 0.020002 0.033502" />
            </geometry>
        </visual>
        <collision name="dbAlpha_L2_link3">
            <origin xyz="0.005903 0.003145 0.020517" rpy="2.397164 1.571062 -0.252468" />
            <geometry>
                <box size="0.003000 0.020002 0.033501" />
            </geometry>
        </collision>
        <visual>
            <origin xyz="0.005903 0.003145 0.020517" rpy="2.397164 1.571062 -0.252468" />
            <geometry>
                <box size="0.003000 0.020002 0.033501" />
            </geometry>
        </visual>
        <collision name="dbAlpha_L2_link3">
            <origin xyz="0.019464 0.010415 0.000015" rpy="0.000375 3.141402 -2.649721" />
            <geometry>
                <box size="0.003284 0.020009 0.044004" />
            </geometry>
        </collision>
        <visual>
            <origin xyz="0.019464 0.010415 0.000015" rpy="0.000375 3.141402 -2.649721" />
            <geometry>
                <box size="0.003284 0.020009 0.044004" />
            </geometry>
        </visual>
        <collision name="dbAlpha_L2_link3">
            <origin xyz="0.064219 -0.057329 -0.000000" rpy="-1.570628 2.984376 -2.649750" />
            <geometry>
                <cylinder length="0.18170112371445" radius="0.0069940909743309" />
            </geometry>
        </collision>
        <visual>
            <origin xyz="0.064219 -0.057329 -0.000000" rpy="-1.570628 2.984376 -2.649750" />
            <geometry>
                <cylinder length="0.18170112371445" radius="0.0069940909743309" />
            </geometry>
        </visual>
    </link>
    <joint name="Forcesensor1" type="fixed">
        <axis xyz="0 0 1" />
        <parent link="dbAlphaL2link3" />
        <child link="TipL2" />
        <origin xyz="0.111196 -0.144856 -0.000038" rpy="-0.764063 4.712110 2.826731" />
    </joint>
    <link name="TipL2">
        <inertial>
            <origin rpy="1.178403 1.571012 2.937354" xyz="0.000018 0.000067 0.000011" />
            <inertia izz="5.0735046735656e-07" iyz="0.0" ixx="5.0735046735656e-07" iyy="5.0735046735656e-07" ixz="0.0" ixy="0.0" />
            <mass value="0.0081429975107312" />
        </inertial>
        <collision name="Tip_L2">
            <origin xyz="0.000018 0.000067 0.000011" rpy="1.178403 1.571012 2.937354" />
            <geometry>
                <sphere radius="0.012480497360229" />
            </geometry>
        </collision>
        <visual>
            <origin xyz="0.000018 0.000067 0.000011" rpy="1.178403 1.571012 2.937354" />
            <geometry>
                <sphere radius="0.012480497360229" />
            </geometry>
        </visual>
    </link> 
</robot>
